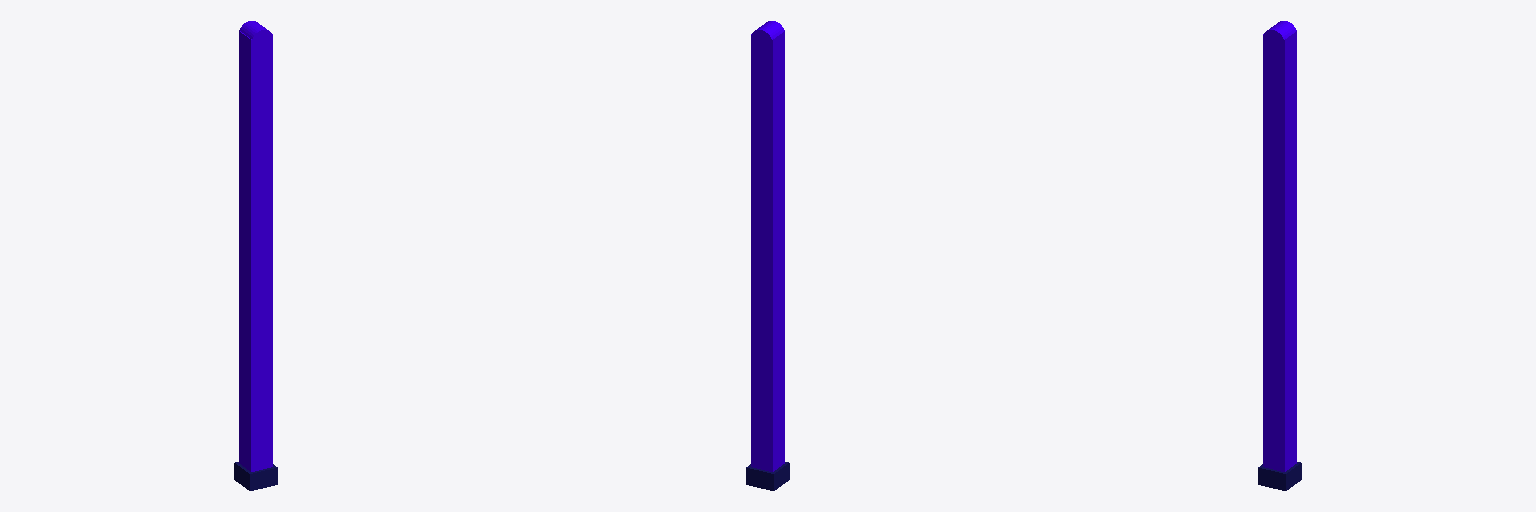
--- Facts derived from the render (not from the file) ---
Views: 3 orthographic renders of the robot side by side, from view 1: azimuth 30°, elevation 25°; view 2: azimuth 150°, elevation 25°; view 3: azimuth 330°, elevation 25°.
Model bb_arm with 106 links and 105 joints (50 revolute, 55 fixed), rooted at base_link, posed all joints at 0.
Links seen in each view (by area): view 1: base_link; view 2: base_link; view 3: base_link.
Link boxes in pixels (bbox=[...]): base_link: bbox=[234, 462, 277, 490]; base_link: bbox=[746, 462, 789, 490]; base_link: bbox=[1258, 462, 1301, 490].
Bounding box of the posed robot: 0.5 × 0.5 × 7.92 m (x, y, z).
Geometry: primitives only (box / cylinder / sphere), no mesh files.

The robot description file, URDF, robot "bb_arm":
<?xml version='1.0' encoding='utf-8'?>
<robot name="bb_arm">
  <link name="base_link">
    <visual>
      <origin xyz="0 0 0.15" rpy="0 0 0" />
      <geometry>
        <box size="0.5 0.5 0.3" />
      </geometry>
      <material name="blue">
        <color rgba="0.1 0.1 0.4 0.5" />
      </material>
    </visual>
    <collision>
      <origin xyz="0 0 0.15" rpy="0 0 0" />
      <geometry>
        <box size="0.5 0.5 0.3" />
      </geometry>
    </collision>
    <inertial>
      <mass value="1.35" />
      <inertia ixx="1" ixy="0" ixz="0" iyy="1" iyz="0" izz="1" />
      <origin xyz="0 0 0.15" rpy="0 0 0" />
    </inertial>
  </link>
  <link name="act0Seg0">
    <visual>
      <origin xyz="0 0 0.0375" rpy="0 0 0" />
      <geometry>
        <box size="0.4 0.4 0.075" />
      </geometry>
      <material name="blue">
        <color rgba="0.3 0.0 1 1.0" />
      </material>
    </visual>
    <collision>
      <origin xyz="0 0 0.0375" rpy="0 0 0" />
      <geometry>
        <box size="0.4 0.4 0.075" />
      </geometry>
    </collision>
    <inertial>
      <mass value="0.15" />
      <inertia ixx="1" ixy="0" ixz="0" iyy="1" iyz="0" izz="1" />
      <origin xyz="0 0 0.0375" rpy="0 0 0" />
    </inertial>
  </link>
  <joint name="base_link_to_act0Seg0" type="fixed">
    <parent link="base_link" />
    <child link="act0Seg0" />
    <origin xyz="0 0 0.3" rpy="0 0 0" />
    <axis xyz="1 0 0" />
  </joint>
  <link name="act0Seg1">
    <visual>
      <origin xyz="0 0 0.075" rpy="0 0 0" />
      <geometry>
        <box size="0.4 0.4 0.15" />
      </geometry>
      <material name="blue">
        <color rgba="0.3 0.0 1 1.0" />
      </material>
    </visual>
    <collision>
      <origin xyz="0 0 0.075" rpy="0 0 0" />
      <geometry>
        <box size="0.4 0.4 0.15" />
      </geometry>
    </collision>
    <inertial>
      <mass value="0.15" />
      <inertia ixx="1" ixy="0" ixz="0" iyy="1" iyz="0" izz="1" />
      <origin xyz="0 0 0.075" rpy="0 0 0" />
    </inertial>
  </link>
  <joint name="act0Seg0_to_act0Seg1_ax0" type="revolute">
    <parent link="act0Seg0" />
    <child link="act0Seg1" />
    <origin xyz="0 0 0.075" rpy="0 0 0" />
    <axis xyz="1 0 0" />
    <limit lower="-3.141592" upper="3.141592" effort="100" velocity="3" />
  </joint>
  <link name="act0Seg1helper_shape">
    <visual>
      <origin xyz="0 0 0.0" rpy="0 -1.5707963267948966 0" />
      <geometry>
        <cylinder length="0.4" radius="0.2" />
      </geometry>
      <material name="blue">
        <color rgba="0.3 0.0 1 1.0" />
      </material>
    </visual>
    <collision>
      <origin xyz="0 0 0.0" rpy="0 -1.5707963267948966 0" />
      <geometry>
        <cylinder length="0.4" radius="0.2" />
      </geometry>
    </collision>
    <inertial>
      <mass value="0.00015" />
      <inertia ixx="0.001" ixy="0.0" ixz="0.0" iyy="0.001" iyz="0.0" izz="0.001" />
      <origin xyz="0 0 0.0" rpy="0 -1.5707963267948966 0" />
    </inertial>
  </link>
  <joint name="act0Seg0_to_act0Seg1_ax0helper_shape" type="fixed">
    <parent link="act0Seg0" />
    <child link="act0Seg1helper_shape" />
    <origin xyz="0 0 0.075" rpy="0 0 0" />
    <axis xyz="1 0 0" />
  </joint>
  <link name="act0Seg2">
    <visual>
      <origin xyz="0 0 0.075" rpy="0 0 0" />
      <geometry>
        <box size="0.4 0.4 0.15" />
      </geometry>
      <material name="blue">
        <color rgba="0.3 0.0 1 1.0" />
      </material>
    </visual>
    <collision>
      <origin xyz="0 0 0.075" rpy="0 0 0" />
      <geometry>
        <box size="0.4 0.4 0.15" />
      </geometry>
    </collision>
    <inertial>
      <mass value="0.15" />
      <inertia ixx="1" ixy="0" ixz="0" iyy="1" iyz="0" izz="1" />
      <origin xyz="0 0 0.075" rpy="0 0 0" />
    </inertial>
  </link>
  <joint name="act0Seg1_to_act0Seg2_ax1" type="revolute">
    <parent link="act0Seg1" />
    <child link="act0Seg2" />
    <origin xyz="0 0 0.15" rpy="0 0 0" />
    <axis xyz="0 1 0" />
    <limit lower="-3.141592" upper="3.141592" effort="100" velocity="3" />
  </joint>
  <link name="act0Seg2helper_shape">
    <visual>
      <origin xyz="0 0 0.0" rpy="-1.5707963267948966 0 0" />
      <geometry>
        <cylinder length="0.4" radius="0.2" />
      </geometry>
      <material name="blue">
        <color rgba="0.3 0.0 1 1.0" />
      </material>
    </visual>
    <collision>
      <origin xyz="0 0 0.0" rpy="-1.5707963267948966 0 0" />
      <geometry>
        <cylinder length="0.4" radius="0.2" />
      </geometry>
    </collision>
    <inertial>
      <mass value="0.00015" />
      <inertia ixx="0.001" ixy="0.0" ixz="0.0" iyy="0.001" iyz="0.0" izz="0.001" />
      <origin xyz="0 0 0.0" rpy="-1.5707963267948966 0 0" />
    </inertial>
  </link>
  <joint name="act0Seg1_to_act0Seg2_ax1helper_shape" type="fixed">
    <parent link="act0Seg1" />
    <child link="act0Seg2helper_shape" />
    <origin xyz="0 0 0.15" rpy="0 0 0" />
    <axis xyz="1 0 0" />
  </joint>
  <link name="act0Seg3">
    <visual>
      <origin xyz="0 0 0.075" rpy="0 0 0" />
      <geometry>
        <box size="0.4 0.4 0.15" />
      </geometry>
      <material name="blue">
        <color rgba="0.3 0.0 1 1.0" />
      </material>
    </visual>
    <collision>
      <origin xyz="0 0 0.075" rpy="0 0 0" />
      <geometry>
        <box size="0.4 0.4 0.15" />
      </geometry>
    </collision>
    <inertial>
      <mass value="0.15" />
      <inertia ixx="1" ixy="0" ixz="0" iyy="1" iyz="0" izz="1" />
      <origin xyz="0 0 0.075" rpy="0 0 0" />
    </inertial>
  </link>
  <joint name="act0Seg2_to_act0Seg3_ax0" type="revolute">
    <parent link="act0Seg2" />
    <child link="act0Seg3" />
    <origin xyz="0 0 0.15" rpy="0 0 0" />
    <axis xyz="1 0 0" />
    <limit lower="-3.141592" upper="3.141592" effort="100" velocity="3" />
  </joint>
  <link name="act0Seg3helper_shape">
    <visual>
      <origin xyz="0 0 0.0" rpy="0 -1.5707963267948966 0" />
      <geometry>
        <cylinder length="0.4" radius="0.2" />
      </geometry>
      <material name="blue">
        <color rgba="0.3 0.0 1 1.0" />
      </material>
    </visual>
    <collision>
      <origin xyz="0 0 0.0" rpy="0 -1.5707963267948966 0" />
      <geometry>
        <cylinder length="0.4" radius="0.2" />
      </geometry>
    </collision>
    <inertial>
      <mass value="0.00015" />
      <inertia ixx="0.001" ixy="0.0" ixz="0.0" iyy="0.001" iyz="0.0" izz="0.001" />
      <origin xyz="0 0 0.0" rpy="0 -1.5707963267948966 0" />
    </inertial>
  </link>
  <joint name="act0Seg2_to_act0Seg3_ax0helper_shape" type="fixed">
    <parent link="act0Seg2" />
    <child link="act0Seg3helper_shape" />
    <origin xyz="0 0 0.15" rpy="0 0 0" />
    <axis xyz="1 0 0" />
  </joint>
  <link name="act0Seg4">
    <visual>
      <origin xyz="0 0 0.075" rpy="0 0 0" />
      <geometry>
        <box size="0.4 0.4 0.15" />
      </geometry>
      <material name="blue">
        <color rgba="0.3 0.0 1 1.0" />
      </material>
    </visual>
    <collision>
      <origin xyz="0 0 0.075" rpy="0 0 0" />
      <geometry>
        <box size="0.4 0.4 0.15" />
      </geometry>
    </collision>
    <inertial>
      <mass value="0.15" />
      <inertia ixx="1" ixy="0" ixz="0" iyy="1" iyz="0" izz="1" />
      <origin xyz="0 0 0.075" rpy="0 0 0" />
    </inertial>
  </link>
  <joint name="act0Seg3_to_act0Seg4_ax1" type="revolute">
    <parent link="act0Seg3" />
    <child link="act0Seg4" />
    <origin xyz="0 0 0.15" rpy="0 0 0" />
    <axis xyz="0 1 0" />
    <limit lower="-3.141592" upper="3.141592" effort="100" velocity="3" />
  </joint>
  <link name="act0Seg4helper_shape">
    <visual>
      <origin xyz="0 0 0.0" rpy="-1.5707963267948966 0 0" />
      <geometry>
        <cylinder length="0.4" radius="0.2" />
      </geometry>
      <material name="blue">
        <color rgba="0.3 0.0 1 1.0" />
      </material>
    </visual>
    <collision>
      <origin xyz="0 0 0.0" rpy="-1.5707963267948966 0 0" />
      <geometry>
        <cylinder length="0.4" radius="0.2" />
      </geometry>
    </collision>
    <inertial>
      <mass value="0.00015" />
      <inertia ixx="0.001" ixy="0.0" ixz="0.0" iyy="0.001" iyz="0.0" izz="0.001" />
      <origin xyz="0 0 0.0" rpy="-1.5707963267948966 0 0" />
    </inertial>
  </link>
  <joint name="act0Seg3_to_act0Seg4_ax1helper_shape" type="fixed">
    <parent link="act0Seg3" />
    <child link="act0Seg4helper_shape" />
    <origin xyz="0 0 0.15" rpy="0 0 0" />
    <axis xyz="1 0 0" />
  </joint>
  <link name="act0Seg5">
    <visual>
      <origin xyz="0 0 0.075" rpy="0 0 0" />
      <geometry>
        <box size="0.4 0.4 0.15" />
      </geometry>
      <material name="blue">
        <color rgba="0.3 0.0 1 1.0" />
      </material>
    </visual>
    <collision>
      <origin xyz="0 0 0.075" rpy="0 0 0" />
      <geometry>
        <box size="0.4 0.4 0.15" />
      </geometry>
    </collision>
    <inertial>
      <mass value="0.15" />
      <inertia ixx="1" ixy="0" ixz="0" iyy="1" iyz="0" izz="1" />
      <origin xyz="0 0 0.075" rpy="0 0 0" />
    </inertial>
  </link>
  <joint name="act0Seg4_to_act0Seg5_ax0" type="revolute">
    <parent link="act0Seg4" />
    <child link="act0Seg5" />
    <origin xyz="0 0 0.15" rpy="0 0 0" />
    <axis xyz="1 0 0" />
    <limit lower="-3.141592" upper="3.141592" effort="100" velocity="3" />
  </joint>
  <link name="act0Seg5helper_shape">
    <visual>
      <origin xyz="0 0 0.0" rpy="0 -1.5707963267948966 0" />
      <geometry>
        <cylinder length="0.4" radius="0.2" />
      </geometry>
      <material name="blue">
        <color rgba="0.3 0.0 1 1.0" />
      </material>
    </visual>
    <collision>
      <origin xyz="0 0 0.0" rpy="0 -1.5707963267948966 0" />
      <geometry>
        <cylinder length="0.4" radius="0.2" />
      </geometry>
    </collision>
    <inertial>
      <mass value="0.00015" />
      <inertia ixx="0.001" ixy="0.0" ixz="0.0" iyy="0.001" iyz="0.0" izz="0.001" />
      <origin xyz="0 0 0.0" rpy="0 -1.5707963267948966 0" />
    </inertial>
  </link>
  <joint name="act0Seg4_to_act0Seg5_ax0helper_shape" type="fixed">
    <parent link="act0Seg4" />
    <child link="act0Seg5helper_shape" />
    <origin xyz="0 0 0.15" rpy="0 0 0" />
    <axis xyz="1 0 0" />
  </joint>
  <link name="act0Seg6">
    <visual>
      <origin xyz="0 0 0.075" rpy="0 0 0" />
      <geometry>
        <box size="0.4 0.4 0.15" />
      </geometry>
      <material name="blue">
        <color rgba="0.3 0.0 1 1.0" />
      </material>
    </visual>
    <collision>
      <origin xyz="0 0 0.075" rpy="0 0 0" />
      <geometry>
        <box size="0.4 0.4 0.15" />
      </geometry>
    </collision>
    <inertial>
      <mass value="0.15" />
      <inertia ixx="1" ixy="0" ixz="0" iyy="1" iyz="0" izz="1" />
      <origin xyz="0 0 0.075" rpy="0 0 0" />
    </inertial>
  </link>
  <joint name="act0Seg5_to_act0Seg6_ax1" type="revolute">
    <parent link="act0Seg5" />
    <child link="act0Seg6" />
    <origin xyz="0 0 0.15" rpy="0 0 0" />
    <axis xyz="0 1 0" />
    <limit lower="-3.141592" upper="3.141592" effort="100" velocity="3" />
  </joint>
  <link name="act0Seg6helper_shape">
    <visual>
      <origin xyz="0 0 0.0" rpy="-1.5707963267948966 0 0" />
      <geometry>
        <cylinder length="0.4" radius="0.2" />
      </geometry>
      <material name="blue">
        <color rgba="0.3 0.0 1 1.0" />
      </material>
    </visual>
    <collision>
      <origin xyz="0 0 0.0" rpy="-1.5707963267948966 0 0" />
      <geometry>
        <cylinder length="0.4" radius="0.2" />
      </geometry>
    </collision>
    <inertial>
      <mass value="0.00015" />
      <inertia ixx="0.001" ixy="0.0" ixz="0.0" iyy="0.001" iyz="0.0" izz="0.001" />
      <origin xyz="0 0 0.0" rpy="-1.5707963267948966 0 0" />
    </inertial>
  </link>
  <joint name="act0Seg5_to_act0Seg6_ax1helper_shape" type="fixed">
    <parent link="act0Seg5" />
    <child link="act0Seg6helper_shape" />
    <origin xyz="0 0 0.15" rpy="0 0 0" />
    <axis xyz="1 0 0" />
  </joint>
  <link name="act0Seg7">
    <visual>
      <origin xyz="0 0 0.075" rpy="0 0 0" />
      <geometry>
        <box size="0.4 0.4 0.15" />
      </geometry>
      <material name="blue">
        <color rgba="0.3 0.0 1 1.0" />
      </material>
    </visual>
    <collision>
      <origin xyz="0 0 0.075" rpy="0 0 0" />
      <geometry>
        <box size="0.4 0.4 0.15" />
      </geometry>
    </collision>
    <inertial>
      <mass value="0.15" />
      <inertia ixx="1" ixy="0" ixz="0" iyy="1" iyz="0" izz="1" />
      <origin xyz="0 0 0.075" rpy="0 0 0" />
    </inertial>
  </link>
  <joint name="act0Seg6_to_act0Seg7_ax0" type="revolute">
    <parent link="act0Seg6" />
    <child link="act0Seg7" />
    <origin xyz="0 0 0.15" rpy="0 0 0" />
    <axis xyz="1 0 0" />
    <limit lower="-3.141592" upper="3.141592" effort="100" velocity="3" />
  </joint>
  <link name="act0Seg7helper_shape">
    <visual>
      <origin xyz="0 0 0.0" rpy="0 -1.5707963267948966 0" />
      <geometry>
        <cylinder length="0.4" radius="0.2" />
      </geometry>
      <material name="blue">
        <color rgba="0.3 0.0 1 1.0" />
      </material>
    </visual>
    <collision>
      <origin xyz="0 0 0.0" rpy="0 -1.5707963267948966 0" />
      <geometry>
        <cylinder length="0.4" radius="0.2" />
      </geometry>
    </collision>
    <inertial>
      <mass value="0.00015" />
      <inertia ixx="0.001" ixy="0.0" ixz="0.0" iyy="0.001" iyz="0.0" izz="0.001" />
      <origin xyz="0 0 0.0" rpy="0 -1.5707963267948966 0" />
    </inertial>
  </link>
  <joint name="act0Seg6_to_act0Seg7_ax0helper_shape" type="fixed">
    <parent link="act0Seg6" />
    <child link="act0Seg7helper_shape" />
    <origin xyz="0 0 0.15" rpy="0 0 0" />
    <axis xyz="1 0 0" />
  </joint>
  <link name="act0Seg8">
    <visual>
      <origin xyz="0 0 0.075" rpy="0 0 0" />
      <geometry>
        <box size="0.4 0.4 0.15" />
      </geometry>
      <material name="blue">
        <color rgba="0.3 0.0 1 1.0" />
      </material>
    </visual>
    <collision>
      <origin xyz="0 0 0.075" rpy="0 0 0" />
      <geometry>
        <box size="0.4 0.4 0.15" />
      </geometry>
    </collision>
    <inertial>
      <mass value="0.15" />
      <inertia ixx="1" ixy="0" ixz="0" iyy="1" iyz="0" izz="1" />
      <origin xyz="0 0 0.075" rpy="0 0 0" />
    </inertial>
  </link>
  <joint name="act0Seg7_to_act0Seg8_ax1" type="revolute">
    <parent link="act0Seg7" />
    <child link="act0Seg8" />
    <origin xyz="0 0 0.15" rpy="0 0 0" />
    <axis xyz="0 1 0" />
    <limit lower="-3.141592" upper="3.141592" effort="100" velocity="3" />
  </joint>
  <link name="act0Seg8helper_shape">
    <visual>
      <origin xyz="0 0 0.0" rpy="-1.5707963267948966 0 0" />
      <geometry>
        <cylinder length="0.4" radius="0.2" />
      </geometry>
      <material name="blue">
        <color rgba="0.3 0.0 1 1.0" />
      </material>
    </visual>
    <collision>
      <origin xyz="0 0 0.0" rpy="-1.5707963267948966 0 0" />
      <geometry>
        <cylinder length="0.4" radius="0.2" />
      </geometry>
    </collision>
    <inertial>
      <mass value="0.00015" />
      <inertia ixx="0.001" ixy="0.0" ixz="0.0" iyy="0.001" iyz="0.0" izz="0.001" />
      <origin xyz="0 0 0.0" rpy="-1.5707963267948966 0 0" />
    </inertial>
  </link>
  <joint name="act0Seg7_to_act0Seg8_ax1helper_shape" type="fixed">
    <parent link="act0Seg7" />
    <child link="act0Seg8helper_shape" />
    <origin xyz="0 0 0.15" rpy="0 0 0" />
    <axis xyz="1 0 0" />
  </joint>
  <link name="act0Seg9">
    <visual>
      <origin xyz="0 0 0.075" rpy="0 0 0" />
      <geometry>
        <box size="0.4 0.4 0.15" />
      </geometry>
      <material name="blue">
        <color rgba="0.3 0.0 1 1.0" />
      </material>
    </visual>
    <collision>
      <origin xyz="0 0 0.075" rpy="0 0 0" />
      <geometry>
        <box size="0.4 0.4 0.15" />
      </geometry>
    </collision>
    <inertial>
      <mass value="0.15" />
      <inertia ixx="1" ixy="0" ixz="0" iyy="1" iyz="0" izz="1" />
      <origin xyz="0 0 0.075" rpy="0 0 0" />
    </inertial>
  </link>
  <joint name="act0Seg8_to_act0Seg9_ax0" type="revolute">
    <parent link="act0Seg8" />
    <child link="act0Seg9" />
    <origin xyz="0 0 0.15" rpy="0 0 0" />
    <axis xyz="1 0 0" />
    <limit lower="-3.141592" upper="3.141592" effort="100" velocity="3" />
  </joint>
  <link name="act0Seg9helper_shape">
    <visual>
      <origin xyz="0 0 0.0" rpy="0 -1.5707963267948966 0" />
      <geometry>
        <cylinder length="0.4" radius="0.2" />
      </geometry>
      <material name="blue">
        <color rgba="0.3 0.0 1 1.0" />
      </material>
    </visual>
    <collision>
      <origin xyz="0 0 0.0" rpy="0 -1.5707963267948966 0" />
      <geometry>
        <cylinder length="0.4" radius="0.2" />
      </geometry>
    </collision>
    <inertial>
      <mass value="0.00015" />
      <inertia ixx="0.001" ixy="0.0" ixz="0.0" iyy="0.001" iyz="0.0" izz="0.001" />
      <origin xyz="0 0 0.0" rpy="0 -1.5707963267948966 0" />
    </inertial>
  </link>
  <joint name="act0Seg8_to_act0Seg9_ax0helper_shape" type="fixed">
    <parent link="act0Seg8" />
    <child link="act0Seg9helper_shape" />
    <origin xyz="0 0 0.15" rpy="0 0 0" />
    <axis xyz="1 0 0" />
  </joint>
  <link name="act0Seg10">
    <visual>
      <origin xyz="0 0 0.0375" rpy="0 0 0" />
      <geometry>
        <box size="0.4 0.4 0.075" />
      </geometry>
      <material name="blue">
        <color rgba="0.3 0.0 1 1.0" />
      </material>
    </visual>
    <collision>
      <origin xyz="0 0 0.0375" rpy="0 0 0" />
      <geometry>
        <box size="0.4 0.4 0.075" />
      </geometry>
    </collision>
    <inertial>
      <mass value="0.15" />
      <inertia ixx="1" ixy="0" ixz="0" iyy="1" iyz="0" izz="1" />
      <origin xyz="0 0 0.0375" rpy="0 0 0" />
    </inertial>
  </link>
  <joint name="act0Seg9_to_act0Seg10_ax1" type="revolute">
    <parent link="act0Seg9" />
    <child link="act0Seg10" />
    <origin xyz="0 0 0.15" rpy="0 0 0" />
    <axis xyz="0 1 0" />
    <limit lower="-3.141592" upper="3.141592" effort="100" velocity="3" />
  </joint>
  <link name="act0Seg10helper_shape">
    <visual>
      <origin xyz="0 0 0.0" rpy="-1.5707963267948966 0 0" />
      <geometry>
        <cylinder length="0.4" radius="0.2" />
      </geometry>
      <material name="blue">
        <color rgba="0.3 0.0 1 1.0" />
      </material>
    </visual>
    <collision>
      <origin xyz="0 0 0.0" rpy="-1.5707963267948966 0 0" />
      <geometry>
        <cylinder length="0.4" radius="0.2" />
      </geometry>
    </collision>
    <inertial>
      <mass value="0.00015" />
      <inertia ixx="0.001" ixy="0.0" ixz="0.0" iyy="0.001" iyz="0.0" izz="0.001" />
      <origin xyz="0 0 0.0" rpy="-1.5707963267948966 0 0" />
    </inertial>
  </link>
  <joint name="act0Seg9_to_act0Seg10_ax1helper_shape" type="fixed">
    <parent link="act0Seg9" />
    <child link="act0Seg10helper_shape" />
    <origin xyz="0 0 0.15" rpy="0 0 0" />
    <axis xyz="1 0 0" />
  </joint>
  <link name="act1Seg0">
    <visual>
      <origin xyz="0 0 0.0375" rpy="0 0 0" />
      <geometry>
        <box size="0.4 0.4 0.075" />
      </geometry>
      <material name="blue">
        <color rgba="0.3 0.0 1 1.0" />
      </material>
    </visual>
    <collision>
      <origin xyz="0 0 0.0375" rpy="0 0 0" />
      <geometry>
        <box size="0.4 0.4 0.075" />
      </geometry>
    </collision>
    <inertial>
      <mass value="0.15" />
      <inertia ixx="1" ixy="0" ixz="0" iyy="1" iyz="0" izz="1" />
      <origin xyz="0 0 0.0375" rpy="0 0 0" />
    </inertial>
  </link>
  <joint name="act0Seg10_to_act1Seg0_ax1" type="fixed">
    <parent link="act0Seg10" />
    <child link="act1Seg0" />
    <origin xyz="0 0 0.075" rpy="0 0 0" />
    <axis xyz="0 1 0" />
    <limit lower="-3.141592" upper="3.141592" effort="100" velocity="3" />
  </joint>
  <link name="act1Seg1">
    <visual>
      <origin xyz="0 0 0.075" rpy="0 0 0" />
      <geometry>
        <box size="0.4 0.4 0.15" />
      </geometry>
      <material name="blue">
        <color rgba="0.3 0.0 1 1.0" />
      </material>
    </visual>
    <collision>
      <origin xyz="0 0 0.075" rpy="0 0 0" />
      <geometry>
        <box size="0.4 0.4 0.15" />
      </geometry>
    </collision>
    <inertial>
      <mass value="0.15" />
      <inertia ixx="1" ixy="0" ixz="0" iyy="1" iyz="0" izz="1" />
      <origin xyz="0 0 0.075" rpy="0 0 0" />
    </inertial>
  </link>
  <joint name="act1Seg0_to_act1Seg1_ax0" type="revolute">
    <parent link="act1Seg0" />
    <child link="act1Seg1" />
    <origin xyz="0 0 0.075" rpy="0 0 0" />
    <axis xyz="1 0 0" />
    <limit lower="-3.141592" upper="3.141592" effort="100" velocity="3" />
  </joint>
  <link name="act1Seg1helper_shape">
    <visual>
      <origin xyz="0 0 0.0" rpy="0 -1.5707963267948966 0" />
      <geometry>
        <cylinder length="0.4" radius="0.2" />
      </geometry>
      <material name="blue">
        <color rgba="0.3 0.0 1 1.0" />
      </material>
    </visual>
    <collision>
      <origin xyz="0 0 0.0" rpy="0 -1.5707963267948966 0" />
      <geometry>
        <cylinder length="0.4" radius="0.2" />
      </geometry>
    </collision>
    <inertial>
      <mass value="0.00015" />
      <inertia ixx="0.001" ixy="0.0" ixz="0.0" iyy="0.001" iyz="0.0" izz="0.001" />
      <origin xyz="0 0 0.0" rpy="0 -1.5707963267948966 0" />
    </inertial>
  </link>
  <joint name="act1Seg0_to_act1Seg1_ax0helper_shape" type="fixed">
    <parent link="act1Seg0" />
    <child link="act1Seg1helper_shape" />
    <origin xyz="0 0 0.075" rpy="0 0 0" />
    <axis xyz="1 0 0" />
  </joint>
  <link name="act1Seg2">
    <visual>
      <origin xyz="0 0 0.075" rpy="0 0 0" />
      <geometry>
        <box size="0.4 0.4 0.15" />
      </geometry>
      <material name="blue">
        <color rgba="0.3 0.0 1 1.0" />
      </material>
    </visual>
    <collision>
      <origin xyz="0 0 0.075" rpy="0 0 0" />
      <geometry>
        <box size="0.4 0.4 0.15" />
      </geometry>
    </collision>
    <inertial>
      <mass value="0.15" />
      <inertia ixx="1" ixy="0" ixz="0" iyy="1" iyz="0" izz="1" />
      <origin xyz="0 0 0.075" rpy="0 0 0" />
    </inertial>
  </link>
  <joint name="act1Seg1_to_act1Seg2_ax1" type="revolute">
    <parent link="act1Seg1" />
    <child link="act1Seg2" />
    <origin xyz="0 0 0.15" rpy="0 0 0" />
    <axis xyz="0 1 0" />
    <limit lower="-3.141592" upper="3.141592" effort="100" velocity="3" />
  </joint>
  <link name="act1Seg2helper_shape">
    <visual>
      <origin xyz="0 0 0.0" rpy="-1.5707963267948966 0 0" />
      <geometry>
        <cylinder length="0.4" radius="0.2" />
      </geometry>
      <material name="blue">
        <color rgba="0.3 0.0 1 1.0" />
      </material>
    </visual>
    <collision>
      <origin xyz="0 0 0.0" rpy="-1.5707963267948966 0 0" />
      <geometry>
        <cylinder length="0.4" radius="0.2" />
      </geometry>
    </collision>
    <inertial>
      <mass value="0.00015" />
      <inertia ixx="0.001" ixy="0.0" ixz="0.0" iyy="0.001" iyz="0.0" izz="0.001" />
      <origin xyz="0 0 0.0" rpy="-1.5707963267948966 0 0" />
    </inertial>
  </link>
  <joint name="act1Seg1_to_act1Seg2_ax1helper_shape" type="fixed">
    <parent link="act1Seg1" />
    <child link="act1Seg2helper_shape" />
    <origin xyz="0 0 0.15" rpy="0 0 0" />
    <axis xyz="1 0 0" />
  </joint>
  <link name="act1Seg3">
    <visual>
      <origin xyz="0 0 0.075" rpy="0 0 0" />
      <geometry>
        <box size="0.4 0.4 0.15" />
      </geometry>
      <material name="blue">
        <color rgba="0.3 0.0 1 1.0" />
      </material>
    </visual>
    <collision>
      <origin xyz="0 0 0.075" rpy="0 0 0" />
      <geometry>
        <box size="0.4 0.4 0.15" />
      </geometry>
    </collision>
    <inertial>
      <mass value="0.15" />
      <inertia ixx="1" ixy="0" ixz="0" iyy="1" iyz="0" izz="1" />
      <origin xyz="0 0 0.075" rpy="0 0 0" />
    </inertial>
  </link>
  <joint name="act1Seg2_to_act1Seg3_ax0" type="revolute">
    <parent link="act1Seg2" />
    <child link="act1Seg3" />
    <origin xyz="0 0 0.15" rpy="0 0 0" />
    <axis xyz="1 0 0" />
    <limit lower="-3.141592" upper="3.141592" effort="100" velocity="3" />
  </joint>
  <link name="act1Seg3helper_shape">
    <visual>
      <origin xyz="0 0 0.0" rpy="0 -1.5707963267948966 0" />
      <geometry>
        <cylinder length="0.4" radius="0.2" />
      </geometry>
      <material name="blue">
        <color rgba="0.3 0.0 1 1.0" />
      </material>
    </visual>
    <collision>
      <origin xyz="0 0 0.0" rpy="0 -1.5707963267948966 0" />
      <geometry>
        <cylinder length="0.4" radius="0.2" />
      </geometry>
    </collision>
    <inertial>
      <mass value="0.00015" />
      <inertia ixx="0.001" ixy="0.0" ixz="0.0" iyy="0.001" iyz="0.0" izz="0.001" />
      <origin xyz="0 0 0.0" rpy="0 -1.5707963267948966 0" />
    </inertial>
  </link>
  <joint name="act1Seg2_to_act1Seg3_ax0helper_shape" type="fixed">
    <parent link="act1Seg2" />
    <child link="act1Seg3helper_shape" />
    <origin xyz="0 0 0.15" rpy="0 0 0" />
    <axis xyz="1 0 0" />
  </joint>
  <link name="act1Seg4">
    <visual>
      <origin xyz="0 0 0.075" rpy="0 0 0" />
      <geometry>
        <box size="0.4 0.4 0.15" />
      </geometry>
      <material name="blue">
        <color rgba="0.3 0.0 1 1.0" />
      </material>
    </visual>
    <collision>
      <origin xyz="0 0 0.075" rpy="0 0 0" />
      <geometry>
        <box size="0.4 0.4 0.15" />
      </geometry>
    </collision>
    <inertial>
      <mass value="0.15" />
      <inertia ixx="1" ixy="0" ixz="0" iyy="1" iyz="0" izz="1" />
      <origin xyz="0 0 0.075" rpy="0 0 0" />
    </inertial>
  </link>
  <joint name="act1Seg3_to_act1Seg4_ax1" type="revolute">
    <parent link="act1Seg3" />
    <child link="act1Seg4" />
    <origin xyz="0 0 0.15" rpy="0 0 0" />
    <axis xyz="0 1 0" />
    <limit lower="-3.141592" upper="3.141592" effort="100" velocity="3" />
  </joint>
  <link name="act1Seg4helper_shape">
    <visual>
      <origin xyz="0 0 0.0" rpy="-1.5707963267948966 0 0" />
      <geometry>
        <cylinder length="0.4" radius="0.2" />
      </geometry>
      <material name="blue">
        <color rgba="0.3 0.0 1 1.0" />
      </material>
    </visual>
    <collision>
      <origin xyz="0 0 0.0" rpy="-1.5707963267948966 0 0" />
      <geometry>
        <cylinder length="0.4" radius="0.2" />
      </geometry>
    </collision>
    <inertial>
      <mass value="0.00015" />
      <inertia ixx="0.001" ixy="0.0" ixz="0.0" iyy="0.001" iyz="0.0" izz="0.001" />
      <origin xyz="0 0 0.0" rpy="-1.5707963267948966 0 0" />
    </inertial>
  </link>
  <joint name="act1Seg3_to_act1Seg4_ax1helper_shape" type="fixed">
    <parent link="act1Seg3" />
    <child link="act1Seg4helper_shape" />
    <origin xyz="0 0 0.15" rpy="0 0 0" />
    <axis xyz="1 0 0" />
  </joint>
  <link name="act1Seg5">
    <visual>
      <origin xyz="0 0 0.075" rpy="0 0 0" />
      <geometry>
        <box size="0.4 0.4 0.15" />
      </geometry>
      <material name="blue">
        <color rgba="0.3 0.0 1 1.0" />
      </material>
    </visual>
    <collision>
      <origin xyz="0 0 0.075" rpy="0 0 0" />
      <geometry>
        <box size="0.4 0.4 0.15" />
      </geometry>
    </collision>
    <inertial>
      <mass value="0.15" />
      <inertia ixx="1" ixy="0" ixz="0" iyy="1" iyz="0" izz="1" />
      <origin xyz="0 0 0.075" rpy="0 0 0" />
    </inertial>
  </link>
  <joint name="act1Seg4_to_act1Seg5_ax0" type="revolute">
    <parent link="act1Seg4" />
    <child link="act1Seg5" />
    <origin xyz="0 0 0.15" rpy="0 0 0" />
    <axis xyz="1 0 0" />
    <limit lower="-3.141592" upper="3.141592" effort="100" velocity="3" />
  </joint>
  <link name="act1Seg5helper_shape">
    <visual>
      <origin xyz="0 0 0.0" rpy="0 -1.5707963267948966 0" />
      <geometry>
        <cylinder length="0.4" radius="0.2" />
      </geometry>
      <material name="blue">
        <color rgba="0.3 0.0 1 1.0" />
      </material>
    </visual>
    <collision>
      <origin xyz="0 0 0.0" rpy="0 -1.5707963267948966 0" />
      <geometry>
        <cylinder length="0.4" radius="0.2" />
      </geometry>
    </collision>
    <inertial>
      <mass value="0.00015" />
      <inertia ixx="0.001" ixy="0.0" ixz="0.0" iyy="0.001" iyz="0.0" izz="0.001" />
      <origin xyz="0 0 0.0" rpy="0 -1.5707963267948966 0" />
    </inertial>
  </link>
  <joint name="act1Seg4_to_act1Seg5_ax0helper_shape" type="fixed">
    <parent link="act1Seg4" />
    <child link="act1Seg5helper_shape" />
    <origin xyz="0 0 0.15" rpy="0 0 0" />
    <axis xyz="1 0 0" />
  </joint>
  <link name="act1Seg6">
    <visual>
      <origin xyz="0 0 0.075" rpy="0 0 0" />
      <geometry>
        <box size="0.4 0.4 0.15" />
      </geometry>
      <material name="blue">
        <color rgba="0.3 0.0 1 1.0" />
      </material>
    </visual>
    <collision>
      <origin xyz="0 0 0.075" rpy="0 0 0" />
      <geometry>
        <box size="0.4 0.4 0.15" />
      </geometry>
    </collision>
    <inertial>
      <mass value="0.15" />
      <inertia ixx="1" ixy="0" ixz="0" iyy="1" iyz="0" izz="1" />
      <origin xyz="0 0 0.075" rpy="0 0 0" />
    </inertial>
  </link>
  <joint name="act1Seg5_to_act1Seg6_ax1" type="revolute">
    <parent link="act1Seg5" />
    <child link="act1Seg6" />
    <origin xyz="0 0 0.15" rpy="0 0 0" />
    <axis xyz="0 1 0" />
    <limit lower="-3.141592" upper="3.141592" effort="100" velocity="3" />
  </joint>
  <link name="act1Seg6helper_shape">
    <visual>
      <origin xyz="0 0 0.0" rpy="-1.5707963267948966 0 0" />
      <geometry>
        <cylinder length="0.4" radius="0.2" />
      </geometry>
      <material name="blue">
        <color rgba="0.3 0.0 1 1.0" />
      </material>
    </visual>
    <collision>
      <origin xyz="0 0 0.0" rpy="-1.5707963267948966 0 0" />
      <geometry>
        <cylinder length="0.4" radius="0.2" />
      </geometry>
    </collision>
    <inertial>
      <mass value="0.00015" />
      <inertia ixx="0.001" ixy="0.0" ixz="0.0" iyy="0.001" iyz="0.0" izz="0.001" />
      <origin xyz="0 0 0.0" rpy="-1.5707963267948966 0 0" />
    </inertial>
  </link>
  <joint name="act1Seg5_to_act1Seg6_ax1helper_shape" type="fixed">
    <parent link="act1Seg5" />
    <child link="act1Seg6helper_shape" />
    <origin xyz="0 0 0.15" rpy="0 0 0" />
    <axis xyz="1 0 0" />
  </joint>
  <link name="act1Seg7">
    <visual>
      <origin xyz="0 0 0.075" rpy="0 0 0" />
      <geometry>
        <box size="0.4 0.4 0.15" />
      </geometry>
      <material name="blue">
        <color rgba="0.3 0.0 1 1.0" />
      </material>
    </visual>
    <collision>
      <origin xyz="0 0 0.075" rpy="0 0 0" />
      <geometry>
        <box size="0.4 0.4 0.15" />
      </geometry>
    </collision>
    <inertial>
      <mass value="0.15" />
      <inertia ixx="1" ixy="0" ixz="0" iyy="1" iyz="0" izz="1" />
      <origin xyz="0 0 0.075" rpy="0 0 0" />
    </inertial>
  </link>
  <joint name="act1Seg6_to_act1Seg7_ax0" type="revolute">
    <parent link="act1Seg6" />
    <child link="act1Seg7" />
    <origin xyz="0 0 0.15" rpy="0 0 0" />
    <axis xyz="1 0 0" />
    <limit lower="-3.141592" upper="3.141592" effort="100" velocity="3" />
  </joint>
  <link name="act1Seg7helper_shape">
    <visual>
      <origin xyz="0 0 0.0" rpy="0 -1.5707963267948966 0" />
      <geometry>
        <cylinder length="0.4" radius="0.2" />
      </geometry>
      <material name="blue">
        <color rgba="0.3 0.0 1 1.0" />
      </material>
    </visual>
    <collision>
      <origin xyz="0 0 0.0" rpy="0 -1.5707963267948966 0" />
      <geometry>
        <cylinder length="0.4" radius="0.2" />
      </geometry>
    </collision>
    <inertial>
      <mass value="0.00015" />
      <inertia ixx="0.001" ixy="0.0" ixz="0.0" iyy="0.001" iyz="0.0" izz="0.001" />
      <origin xyz="0 0 0.0" rpy="0 -1.5707963267948966 0" />
    </inertial>
  </link>
  <joint name="act1Seg6_to_act1Seg7_ax0helper_shape" type="fixed">
    <parent link="act1Seg6" />
    <child link="act1Seg7helper_shape" />
    <origin xyz="0 0 0.15" rpy="0 0 0" />
    <axis xyz="1 0 0" />
  </joint>
  <link name="act1Seg8">
    <visual>
      <origin xyz="0 0 0.075" rpy="0 0 0" />
      <geometry>
        <box size="0.4 0.4 0.15" />
      </geometry>
      <material name="blue">
        <color rgba="0.3 0.0 1 1.0" />
      </material>
    </visual>
    <collision>
      <origin xyz="0 0 0.075" rpy="0 0 0" />
      <geometry>
        <box size="0.4 0.4 0.15" />
      </geometry>
    </collision>
    <inertial>
      <mass value="0.15" />
      <inertia ixx="1" ixy="0" ixz="0" iyy="1" iyz="0" izz="1" />
      <origin xyz="0 0 0.075" rpy="0 0 0" />
    </inertial>
  </link>
  <joint name="act1Seg7_to_act1Seg8_ax1" type="revolute">
    <parent link="act1Seg7" />
    <child link="act1Seg8" />
    <origin xyz="0 0 0.15" rpy="0 0 0" />
    <axis xyz="0 1 0" />
    <limit lower="-3.141592" upper="3.141592" effort="100" velocity="3" />
  </joint>
  <link name="act1Seg8helper_shape">
    <visual>
      <origin xyz="0 0 0.0" rpy="-1.5707963267948966 0 0" />
      <geometry>
        <cylinder length="0.4" radius="0.2" />
      </geometry>
      <material name="blue">
        <color rgba="0.3 0.0 1 1.0" />
      </material>
    </visual>
    <collision>
      <origin xyz="0 0 0.0" rpy="-1.5707963267948966 0 0" />
      <geometry>
        <cylinder length="0.4" radius="0.2" />
      </geometry>
    </collision>
    <inertial>
      <mass value="0.00015" />
      <inertia ixx="0.001" ixy="0.0" ixz="0.0" iyy="0.001" iyz="0.0" izz="0.001" />
      <origin xyz="0 0 0.0" rpy="-1.5707963267948966 0 0" />
    </inertial>
  </link>
  <joint name="act1Seg7_to_act1Seg8_ax1helper_shape" type="fixed">
    <parent link="act1Seg7" />
    <child link="act1Seg8helper_shape" />
    <origin xyz="0 0 0.15" rpy="0 0 0" />
    <axis xyz="1 0 0" />
  </joint>
  <link name="act1Seg9">
    <visual>
      <origin xyz="0 0 0.075" rpy="0 0 0" />
      <geometry>
        <box size="0.4 0.4 0.15" />
      </geometry>
      <material name="blue">
        <color rgba="0.3 0.0 1 1.0" />
      </material>
    </visual>
    <collision>
      <origin xyz="0 0 0.075" rpy="0 0 0" />
      <geometry>
        <box size="0.4 0.4 0.15" />
      </geometry>
    </collision>
    <inertial>
      <mass value="0.15" />
      <inertia ixx="1" ixy="0" ixz="0" iyy="1" iyz="0" izz="1" />
      <origin xyz="0 0 0.075" rpy="0 0 0" />
    </inertial>
  </link>
  <joint name="act1Seg8_to_act1Seg9_ax0" type="revolute">
    <parent link="act1Seg8" />
    <child link="act1Seg9" />
    <origin xyz="0 0 0.15" rpy="0 0 0" />
    <axis xyz="1 0 0" />
    <limit lower="-3.141592" upper="3.141592" effort="100" velocity="3" />
  </joint>
  <link name="act1Seg9helper_shape">
    <visual>
      <origin xyz="0 0 0.0" rpy="0 -1.5707963267948966 0" />
      <geometry>
        <cylinder length="0.4" radius="0.2" />
      </geometry>
      <material name="blue">
        <color rgba="0.3 0.0 1 1.0" />
      </material>
    </visual>
    <collision>
      <origin xyz="0 0 0.0" rpy="0 -1.5707963267948966 0" />
      <geometry>
        <cylinder length="0.4" radius="0.2" />
      </geometry>
    </collision>
    <inertial>
      <mass value="0.00015" />
      <inertia ixx="0.001" ixy="0.0" ixz="0.0" iyy="0.001" iyz="0.0" izz="0.001" />
      <origin xyz="0 0 0.0" rpy="0 -1.5707963267948966 0" />
    </inertial>
  </link>
  <joint name="act1Seg8_to_act1Seg9_ax0helper_shape" type="fixed">
    <parent link="act1Seg8" />
    <child link="act1Seg9helper_shape" />
    <origin xyz="0 0 0.15" rpy="0 0 0" />
    <axis xyz="1 0 0" />
  </joint>
  <link name="act1Seg10">
    <visual>
      <origin xyz="0 0 0.0375" rpy="0 0 0" />
      <geometry>
        <box size="0.4 0.4 0.075" />
      </geometry>
      <material name="blue">
        <color rgba="0.3 0.0 1 1.0" />
      </material>
    </visual>
    <collision>
      <origin xyz="0 0 0.0375" rpy="0 0 0" />
      <geometry>
        <box size="0.4 0.4 0.075" />
      </geometry>
    </collision>
    <inertial>
      <mass value="0.15" />
      <inertia ixx="1" ixy="0" ixz="0" iyy="1" iyz="0" izz="1" />
      <origin xyz="0 0 0.0375" rpy="0 0 0" />
    </inertial>
  </link>
  <joint name="act1Seg9_to_act1Seg10_ax1" type="revolute">
    <parent link="act1Seg9" />
    <child link="act1Seg10" />
    <origin xyz="0 0 0.15" rpy="0 0 0" />
    <axis xyz="0 1 0" />
    <limit lower="-3.141592" upper="3.141592" effort="100" velocity="3" />
  </joint>
  <link name="act1Seg10helper_shape">
    <visual>
      <origin xyz="0 0 0.0" rpy="-1.5707963267948966 0 0" />
      <geometry>
        <cylinder length="0.4" radius="0.2" />
      </geometry>
      <material name="blue">
        <color rgba="0.3 0.0 1 1.0" />
      </material>
    </visual>
    <collision>
      <origin xyz="0 0 0.0" rpy="-1.5707963267948966 0 0" />
      <geometry>
        <cylinder length="0.4" radius="0.2" />
      </geometry>
    </collision>
    <inertial>
      <mass value="0.00015" />
      <inertia ixx="0.001" ixy="0.0" ixz="0.0" iyy="0.001" iyz="0.0" izz="0.001" />
      <origin xyz="0 0 0.0" rpy="-1.5707963267948966 0 0" />
    </inertial>
  </link>
  <joint name="act1Seg9_to_act1Seg10_ax1helper_shape" type="fixed">
    <parent link="act1Seg9" />
    <child link="act1Seg10helper_shape" />
    <origin xyz="0 0 0.15" rpy="0 0 0" />
    <axis xyz="1 0 0" />
  </joint>
  <link name="act2Seg0">
    <visual>
      <origin xyz="0 0 0.0375" rpy="0 0 0" />
      <geometry>
        <box size="0.4 0.4 0.075" />
      </geometry>
      <material name="blue">
        <color rgba="0.3 0.0 1 1.0" />
      </material>
    </visual>
    <collision>
      <origin xyz="0 0 0.0375" rpy="0 0 0" />
      <geometry>
        <box size="0.4 0.4 0.075" />
      </geometry>
    </collision>
    <inertial>
      <mass value="0.15" />
      <inertia ixx="1" ixy="0" ixz="0" iyy="1" iyz="0" izz="1" />
      <origin xyz="0 0 0.0375" rpy="0 0 0" />
    </inertial>
  </link>
  <joint name="act1Seg10_to_act2Seg0_ax1" type="fixed">
    <parent link="act1Seg10" />
    <child link="act2Seg0" />
    <origin xyz="0 0 0.075" rpy="0 0 0" />
    <axis xyz="0 1 0" />
    <limit lower="-3.141592" upper="3.141592" effort="100" velocity="3" />
  </joint>
  <link name="act2Seg1">
    <visual>
      <origin xyz="0 0 0.075" rpy="0 0 0" />
      <geometry>
        <box size="0.4 0.4 0.15" />
      </geometry>
      <material name="blue">
        <color rgba="0.3 0.0 1 1.0" />
      </material>
    </visual>
    <collision>
      <origin xyz="0 0 0.075" rpy="0 0 0" />
      <geometry>
        <box size="0.4 0.4 0.15" />
      </geometry>
    </collision>
    <inertial>
      <mass value="0.15" />
      <inertia ixx="1" ixy="0" ixz="0" iyy="1" iyz="0" izz="1" />
      <origin xyz="0 0 0.075" rpy="0 0 0" />
    </inertial>
  </link>
  <joint name="act2Seg0_to_act2Seg1_ax0" type="revolute">
    <parent link="act2Seg0" />
    <child link="act2Seg1" />
    <origin xyz="0 0 0.075" rpy="0 0 0" />
    <axis xyz="1 0 0" />
    <limit lower="-3.141592" upper="3.141592" effort="100" velocity="3" />
  </joint>
  <link name="act2Seg1helper_shape">
    <visual>
      <origin xyz="0 0 0.0" rpy="0 -1.5707963267948966 0" />
      <geometry>
        <cylinder length="0.4" radius="0.2" />
      </geometry>
      <material name="blue">
        <color rgba="0.3 0.0 1 1.0" />
      </material>
    </visual>
    <collision>
      <origin xyz="0 0 0.0" rpy="0 -1.5707963267948966 0" />
      <geometry>
        <cylinder length="0.4" radius="0.2" />
      </geometry>
    </collision>
    <inertial>
      <mass value="0.00015" />
      <inertia ixx="0.001" ixy="0.0" ixz="0.0" iyy="0.001" iyz="0.0" izz="0.001" />
      <origin xyz="0 0 0.0" rpy="0 -1.5707963267948966 0" />
    </inertial>
  </link>
  <joint name="act2Seg0_to_act2Seg1_ax0helper_shape" type="fixed">
    <parent link="act2Seg0" />
    <child link="act2Seg1helper_shape" />
    <origin xyz="0 0 0.075" rpy="0 0 0" />
    <axis xyz="1 0 0" />
  </joint>
  <link name="act2Seg2">
    <visual>
      <origin xyz="0 0 0.075" rpy="0 0 0" />
      <geometry>
        <box size="0.4 0.4 0.15" />
      </geometry>
      <material name="blue">
        <color rgba="0.3 0.0 1 1.0" />
      </material>
    </visual>
    <collision>
      <origin xyz="0 0 0.075" rpy="0 0 0" />
      <geometry>
        <box size="0.4 0.4 0.15" />
      </geometry>
    </collision>
    <inertial>
      <mass value="0.15" />
      <inertia ixx="1" ixy="0" ixz="0" iyy="1" iyz="0" izz="1" />
      <origin xyz="0 0 0.075" rpy="0 0 0" />
    </inertial>
  </link>
  <joint name="act2Seg1_to_act2Seg2_ax1" type="revolute">
    <parent link="act2Seg1" />
    <child link="act2Seg2" />
    <origin xyz="0 0 0.15" rpy="0 0 0" />
    <axis xyz="0 1 0" />
    <limit lower="-3.141592" upper="3.141592" effort="100" velocity="3" />
  </joint>
  <link name="act2Seg2helper_shape">
    <visual>
      <origin xyz="0 0 0.0" rpy="-1.5707963267948966 0 0" />
      <geometry>
        <cylinder length="0.4" radius="0.2" />
      </geometry>
      <material name="blue">
        <color rgba="0.3 0.0 1 1.0" />
      </material>
    </visual>
    <collision>
      <origin xyz="0 0 0.0" rpy="-1.5707963267948966 0 0" />
      <geometry>
        <cylinder length="0.4" radius="0.2" />
      </geometry>
    </collision>
    <inertial>
      <mass value="0.00015" />
      <inertia ixx="0.001" ixy="0.0" ixz="0.0" iyy="0.001" iyz="0.0" izz="0.001" />
      <origin xyz="0 0 0.0" rpy="-1.5707963267948966 0 0" />
    </inertial>
  </link>
  <joint name="act2Seg1_to_act2Seg2_ax1helper_shape" type="fixed">
    <parent link="act2Seg1" />
    <child link="act2Seg2helper_shape" />
    <origin xyz="0 0 0.15" rpy="0 0 0" />
    <axis xyz="1 0 0" />
  </joint>
  <link name="act2Seg3">
    <visual>
      <origin xyz="0 0 0.075" rpy="0 0 0" />
      <geometry>
        <box size="0.4 0.4 0.15" />
      </geometry>
      <material name="blue">
        <color rgba="0.3 0.0 1 1.0" />
      </material>
    </visual>
    <collision>
      <origin xyz="0 0 0.075" rpy="0 0 0" />
      <geometry>
        <box size="0.4 0.4 0.15" />
      </geometry>
    </collision>
    <inertial>
      <mass value="0.15" />
      <inertia ixx="1" ixy="0" ixz="0" iyy="1" iyz="0" izz="1" />
      <origin xyz="0 0 0.075" rpy="0 0 0" />
    </inertial>
  </link>
  <joint name="act2Seg2_to_act2Seg3_ax0" type="revolute">
    <parent link="act2Seg2" />
    <child link="act2Seg3" />
    <origin xyz="0 0 0.15" rpy="0 0 0" />
    <axis xyz="1 0 0" />
    <limit lower="-3.141592" upper="3.141592" effort="100" velocity="3" />
  </joint>
  <link name="act2Seg3helper_shape">
    <visual>
      <origin xyz="0 0 0.0" rpy="0 -1.5707963267948966 0" />
      <geometry>
        <cylinder length="0.4" radius="0.2" />
      </geometry>
      <material name="blue">
        <color rgba="0.3 0.0 1 1.0" />
      </material>
    </visual>
    <collision>
      <origin xyz="0 0 0.0" rpy="0 -1.5707963267948966 0" />
      <geometry>
        <cylinder length="0.4" radius="0.2" />
      </geometry>
    </collision>
    <inertial>
      <mass value="0.00015" />
      <inertia ixx="0.001" ixy="0.0" ixz="0.0" iyy="0.001" iyz="0.0" izz="0.001" />
      <origin xyz="0 0 0.0" rpy="0 -1.5707963267948966 0" />
    </inertial>
  </link>
  <joint name="act2Seg2_to_act2Seg3_ax0helper_shape" type="fixed">
    <parent link="act2Seg2" />
    <child link="act2Seg3helper_shape" />
    <origin xyz="0 0 0.15" rpy="0 0 0" />
    <axis xyz="1 0 0" />
  </joint>
  <link name="act2Seg4">
    <visual>
      <origin xyz="0 0 0.075" rpy="0 0 0" />
      <geometry>
        <box size="0.4 0.4 0.15" />
      </geometry>
      <material name="blue">
        <color rgba="0.3 0.0 1 1.0" />
      </material>
    </visual>
    <collision>
      <origin xyz="0 0 0.075" rpy="0 0 0" />
      <geometry>
        <box size="0.4 0.4 0.15" />
      </geometry>
    </collision>
    <inertial>
      <mass value="0.15" />
      <inertia ixx="1" ixy="0" ixz="0" iyy="1" iyz="0" izz="1" />
      <origin xyz="0 0 0.075" rpy="0 0 0" />
    </inertial>
  </link>
  <joint name="act2Seg3_to_act2Seg4_ax1" type="revolute">
    <parent link="act2Seg3" />
    <child link="act2Seg4" />
    <origin xyz="0 0 0.15" rpy="0 0 0" />
    <axis xyz="0 1 0" />
    <limit lower="-3.141592" upper="3.141592" effort="100" velocity="3" />
  </joint>
  <link name="act2Seg4helper_shape">
    <visual>
      <origin xyz="0 0 0.0" rpy="-1.5707963267948966 0 0" />
      <geometry>
        <cylinder length="0.4" radius="0.2" />
      </geometry>
      <material name="blue">
        <color rgba="0.3 0.0 1 1.0" />
      </material>
    </visual>
    <collision>
      <origin xyz="0 0 0.0" rpy="-1.5707963267948966 0 0" />
      <geometry>
        <cylinder length="0.4" radius="0.2" />
      </geometry>
    </collision>
    <inertial>
      <mass value="0.00015" />
      <inertia ixx="0.001" ixy="0.0" ixz="0.0" iyy="0.001" iyz="0.0" izz="0.001" />
      <origin xyz="0 0 0.0" rpy="-1.5707963267948966 0 0" />
    </inertial>
  </link>
  <joint name="act2Seg3_to_act2Seg4_ax1helper_shape" type="fixed">
    <parent link="act2Seg3" />
    <child link="act2Seg4helper_shape" />
    <origin xyz="0 0 0.15" rpy="0 0 0" />
    <axis xyz="1 0 0" />
  </joint>
  <link name="act2Seg5">
    <visual>
      <origin xyz="0 0 0.075" rpy="0 0 0" />
      <geometry>
        <box size="0.4 0.4 0.15" />
      </geometry>
      <material name="blue">
        <color rgba="0.3 0.0 1 1.0" />
      </material>
    </visual>
    <collision>
      <origin xyz="0 0 0.075" rpy="0 0 0" />
      <geometry>
        <box size="0.4 0.4 0.15" />
      </geometry>
    </collision>
    <inertial>
      <mass value="0.15" />
      <inertia ixx="1" ixy="0" ixz="0" iyy="1" iyz="0" izz="1" />
      <origin xyz="0 0 0.075" rpy="0 0 0" />
    </inertial>
  </link>
  <joint name="act2Seg4_to_act2Seg5_ax0" type="revolute">
    <parent link="act2Seg4" />
    <child link="act2Seg5" />
    <origin xyz="0 0 0.15" rpy="0 0 0" />
    <axis xyz="1 0 0" />
    <limit lower="-3.141592" upper="3.141592" effort="100" velocity="3" />
  </joint>
  <link name="act2Seg5helper_shape">
    <visual>
      <origin xyz="0 0 0.0" rpy="0 -1.5707963267948966 0" />
      <geometry>
        <cylinder length="0.4" radius="0.2" />
      </geometry>
      <material name="blue">
        <color rgba="0.3 0.0 1 1.0" />
      </material>
    </visual>
    <collision>
      <origin xyz="0 0 0.0" rpy="0 -1.5707963267948966 0" />
      <geometry>
        <cylinder length="0.4" radius="0.2" />
      </geometry>
    </collision>
    <inertial>
      <mass value="0.00015" />
      <inertia ixx="0.001" ixy="0.0" ixz="0.0" iyy="0.001" iyz="0.0" izz="0.001" />
      <origin xyz="0 0 0.0" rpy="0 -1.5707963267948966 0" />
    </inertial>
  </link>
  <joint name="act2Seg4_to_act2Seg5_ax0helper_shape" type="fixed">
    <parent link="act2Seg4" />
    <child link="act2Seg5helper_shape" />
    <origin xyz="0 0 0.15" rpy="0 0 0" />
    <axis xyz="1 0 0" />
  </joint>
  <link name="act2Seg6">
    <visual>
      <origin xyz="0 0 0.075" rpy="0 0 0" />
      <geometry>
        <box size="0.4 0.4 0.15" />
      </geometry>
      <material name="blue">
        <color rgba="0.3 0.0 1 1.0" />
      </material>
    </visual>
    <collision>
      <origin xyz="0 0 0.075" rpy="0 0 0" />
      <geometry>
        <box size="0.4 0.4 0.15" />
      </geometry>
    </collision>
    <inertial>
      <mass value="0.15" />
      <inertia ixx="1" ixy="0" ixz="0" iyy="1" iyz="0" izz="1" />
      <origin xyz="0 0 0.075" rpy="0 0 0" />
    </inertial>
  </link>
  <joint name="act2Seg5_to_act2Seg6_ax1" type="revolute">
    <parent link="act2Seg5" />
    <child link="act2Seg6" />
    <origin xyz="0 0 0.15" rpy="0 0 0" />
    <axis xyz="0 1 0" />
    <limit lower="-3.141592" upper="3.141592" effort="100" velocity="3" />
  </joint>
  <link name="act2Seg6helper_shape">
    <visual>
      <origin xyz="0 0 0.0" rpy="-1.5707963267948966 0 0" />
      <geometry>
        <cylinder length="0.4" radius="0.2" />
      </geometry>
      <material name="blue">
        <color rgba="0.3 0.0 1 1.0" />
      </material>
    </visual>
    <collision>
      <origin xyz="0 0 0.0" rpy="-1.5707963267948966 0 0" />
      <geometry>
        <cylinder length="0.4" radius="0.2" />
      </geometry>
    </collision>
    <inertial>
      <mass value="0.00015" />
      <inertia ixx="0.001" ixy="0.0" ixz="0.0" iyy="0.001" iyz="0.0" izz="0.001" />
      <origin xyz="0 0 0.0" rpy="-1.5707963267948966 0 0" />
    </inertial>
  </link>
  <joint name="act2Seg5_to_act2Seg6_ax1helper_shape" type="fixed">
    <parent link="act2Seg5" />
    <child link="act2Seg6helper_shape" />
    <origin xyz="0 0 0.15" rpy="0 0 0" />
    <axis xyz="1 0 0" />
  </joint>
  <link name="act2Seg7">
    <visual>
      <origin xyz="0 0 0.075" rpy="0 0 0" />
      <geometry>
        <box size="0.4 0.4 0.15" />
      </geometry>
      <material name="blue">
        <color rgba="0.3 0.0 1 1.0" />
      </material>
    </visual>
    <collision>
      <origin xyz="0 0 0.075" rpy="0 0 0" />
      <geometry>
        <box size="0.4 0.4 0.15" />
      </geometry>
    </collision>
    <inertial>
      <mass value="0.15" />
      <inertia ixx="1" ixy="0" ixz="0" iyy="1" iyz="0" izz="1" />
      <origin xyz="0 0 0.075" rpy="0 0 0" />
    </inertial>
  </link>
  <joint name="act2Seg6_to_act2Seg7_ax0" type="revolute">
    <parent link="act2Seg6" />
    <child link="act2Seg7" />
    <origin xyz="0 0 0.15" rpy="0 0 0" />
    <axis xyz="1 0 0" />
    <limit lower="-3.141592" upper="3.141592" effort="100" velocity="3" />
  </joint>
  <link name="act2Seg7helper_shape">
    <visual>
      <origin xyz="0 0 0.0" rpy="0 -1.5707963267948966 0" />
      <geometry>
        <cylinder length="0.4" radius="0.2" />
      </geometry>
      <material name="blue">
        <color rgba="0.3 0.0 1 1.0" />
      </material>
    </visual>
    <collision>
      <origin xyz="0 0 0.0" rpy="0 -1.5707963267948966 0" />
      <geometry>
        <cylinder length="0.4" radius="0.2" />
      </geometry>
    </collision>
    <inertial>
      <mass value="0.00015" />
      <inertia ixx="0.001" ixy="0.0" ixz="0.0" iyy="0.001" iyz="0.0" izz="0.001" />
      <origin xyz="0 0 0.0" rpy="0 -1.5707963267948966 0" />
    </inertial>
  </link>
  <joint name="act2Seg6_to_act2Seg7_ax0helper_shape" type="fixed">
    <parent link="act2Seg6" />
    <child link="act2Seg7helper_shape" />
    <origin xyz="0 0 0.15" rpy="0 0 0" />
    <axis xyz="1 0 0" />
  </joint>
  <link name="act2Seg8">
    <visual>
      <origin xyz="0 0 0.075" rpy="0 0 0" />
      <geometry>
        <box size="0.4 0.4 0.15" />
      </geometry>
      <material name="blue">
        <color rgba="0.3 0.0 1 1.0" />
      </material>
    </visual>
    <collision>
      <origin xyz="0 0 0.075" rpy="0 0 0" />
      <geometry>
        <box size="0.4 0.4 0.15" />
      </geometry>
    </collision>
    <inertial>
      <mass value="0.15" />
      <inertia ixx="1" ixy="0" ixz="0" iyy="1" iyz="0" izz="1" />
      <origin xyz="0 0 0.075" rpy="0 0 0" />
    </inertial>
  </link>
  <joint name="act2Seg7_to_act2Seg8_ax1" type="revolute">
    <parent link="act2Seg7" />
    <child link="act2Seg8" />
    <origin xyz="0 0 0.15" rpy="0 0 0" />
    <axis xyz="0 1 0" />
    <limit lower="-3.141592" upper="3.141592" effort="100" velocity="3" />
  </joint>
  <link name="act2Seg8helper_shape">
    <visual>
      <origin xyz="0 0 0.0" rpy="-1.5707963267948966 0 0" />
      <geometry>
        <cylinder length="0.4" radius="0.2" />
      </geometry>
      <material name="blue">
        <color rgba="0.3 0.0 1 1.0" />
      </material>
    </visual>
    <collision>
      <origin xyz="0 0 0.0" rpy="-1.5707963267948966 0 0" />
      <geometry>
        <cylinder length="0.4" radius="0.2" />
      </geometry>
    </collision>
    <inertial>
      <mass value="0.00015" />
      <inertia ixx="0.001" ixy="0.0" ixz="0.0" iyy="0.001" iyz="0.0" izz="0.001" />
      <origin xyz="0 0 0.0" rpy="-1.5707963267948966 0 0" />
    </inertial>
  </link>
  <joint name="act2Seg7_to_act2Seg8_ax1helper_shape" type="fixed">
    <parent link="act2Seg7" />
    <child link="act2Seg8helper_shape" />
    <origin xyz="0 0 0.15" rpy="0 0 0" />
    <axis xyz="1 0 0" />
  </joint>
  <link name="act2Seg9">
    <visual>
      <origin xyz="0 0 0.075" rpy="0 0 0" />
      <geometry>
        <box size="0.4 0.4 0.15" />
      </geometry>
      <material name="blue">
        <color rgba="0.3 0.0 1 1.0" />
      </material>
    </visual>
    <collision>
      <origin xyz="0 0 0.075" rpy="0 0 0" />
      <geometry>
        <box size="0.4 0.4 0.15" />
      </geometry>
    </collision>
    <inertial>
      <mass value="0.15" />
      <inertia ixx="1" ixy="0" ixz="0" iyy="1" iyz="0" izz="1" />
      <origin xyz="0 0 0.075" rpy="0 0 0" />
    </inertial>
  </link>
  <joint name="act2Seg8_to_act2Seg9_ax0" type="revolute">
    <parent link="act2Seg8" />
    <child link="act2Seg9" />
    <origin xyz="0 0 0.15" rpy="0 0 0" />
    <axis xyz="1 0 0" />
    <limit lower="-3.141592" upper="3.141592" effort="100" velocity="3" />
  </joint>
  <link name="act2Seg9helper_shape">
    <visual>
      <origin xyz="0 0 0.0" rpy="0 -1.5707963267948966 0" />
      <geometry>
        <cylinder length="0.4" radius="0.2" />
      </geometry>
      <material name="blue">
        <color rgba="0.3 0.0 1 1.0" />
      </material>
    </visual>
    <collision>
      <origin xyz="0 0 0.0" rpy="0 -1.5707963267948966 0" />
      <geometry>
        <cylinder length="0.4" radius="0.2" />
      </geometry>
    </collision>
    <inertial>
      <mass value="0.00015" />
      <inertia ixx="0.001" ixy="0.0" ixz="0.0" iyy="0.001" iyz="0.0" izz="0.001" />
      <origin xyz="0 0 0.0" rpy="0 -1.5707963267948966 0" />
    </inertial>
  </link>
  <joint name="act2Seg8_to_act2Seg9_ax0helper_shape" type="fixed">
    <parent link="act2Seg8" />
    <child link="act2Seg9helper_shape" />
    <origin xyz="0 0 0.15" rpy="0 0 0" />
    <axis xyz="1 0 0" />
  </joint>
  <link name="act2Seg10">
    <visual>
      <origin xyz="0 0 0.0375" rpy="0 0 0" />
      <geometry>
        <box size="0.4 0.4 0.075" />
      </geometry>
      <material name="blue">
        <color rgba="0.3 0.0 1 1.0" />
      </material>
    </visual>
    <collision>
      <origin xyz="0 0 0.0375" rpy="0 0 0" />
      <geometry>
        <box size="0.4 0.4 0.075" />
      </geometry>
    </collision>
    <inertial>
      <mass value="0.15" />
      <inertia ixx="1" ixy="0" ixz="0" iyy="1" iyz="0" izz="1" />
      <origin xyz="0 0 0.0375" rpy="0 0 0" />
    </inertial>
  </link>
  <joint name="act2Seg9_to_act2Seg10_ax1" type="revolute">
    <parent link="act2Seg9" />
    <child link="act2Seg10" />
    <origin xyz="0 0 0.15" rpy="0 0 0" />
    <axis xyz="0 1 0" />
    <limit lower="-3.141592" upper="3.141592" effort="100" velocity="3" />
  </joint>
  <link name="act2Seg10helper_shape">
    <visual>
      <origin xyz="0 0 0.0" rpy="-1.5707963267948966 0 0" />
      <geometry>
        <cylinder length="0.4" radius="0.2" />
      </geometry>
      <material name="blue">
        <color rgba="0.3 0.0 1 1.0" />
      </material>
    </visual>
    <collision>
      <origin xyz="0 0 0.0" rpy="-1.5707963267948966 0 0" />
      <geometry>
        <cylinder length="0.4" radius="0.2" />
      </geometry>
    </collision>
    <inertial>
      <mass value="0.00015" />
      <inertia ixx="0.001" ixy="0.0" ixz="0.0" iyy="0.001" iyz="0.0" izz="0.001" />
      <origin xyz="0 0 0.0" rpy="-1.5707963267948966 0 0" />
    </inertial>
  </link>
  <joint name="act2Seg9_to_act2Seg10_ax1helper_shape" type="fixed">
    <parent link="act2Seg9" />
    <child link="act2Seg10helper_shape" />
    <origin xyz="0 0 0.15" rpy="0 0 0" />
    <axis xyz="1 0 0" />
  </joint>
  <link name="act3Seg0">
    <visual>
      <origin xyz="0 0 0.0375" rpy="0 0 0" />
      <geometry>
        <box size="0.4 0.4 0.075" />
      </geometry>
      <material name="blue">
        <color rgba="0.3 0.0 1 1.0" />
      </material>
    </visual>
    <collision>
      <origin xyz="0 0 0.0375" rpy="0 0 0" />
      <geometry>
        <box size="0.4 0.4 0.075" />
      </geometry>
    </collision>
    <inertial>
      <mass value="0.15" />
      <inertia ixx="1" ixy="0" ixz="0" iyy="1" iyz="0" izz="1" />
      <origin xyz="0 0 0.0375" rpy="0 0 0" />
    </inertial>
  </link>
  <joint name="act2Seg10_to_act3Seg0_ax1" type="fixed">
    <parent link="act2Seg10" />
    <child link="act3Seg0" />
    <origin xyz="0 0 0.075" rpy="0 0 0" />
    <axis xyz="0 1 0" />
    <limit lower="-3.141592" upper="3.141592" effort="100" velocity="3" />
  </joint>
  <link name="act3Seg1">
    <visual>
      <origin xyz="0 0 0.075" rpy="0 0 0" />
      <geometry>
        <box size="0.4 0.4 0.15" />
      </geometry>
      <material name="blue">
        <color rgba="0.3 0.0 1 1.0" />
      </material>
    </visual>
    <collision>
      <origin xyz="0 0 0.075" rpy="0 0 0" />
      <geometry>
        <box size="0.4 0.4 0.15" />
      </geometry>
    </collision>
    <inertial>
      <mass value="0.15" />
      <inertia ixx="1" ixy="0" ixz="0" iyy="1" iyz="0" izz="1" />
      <origin xyz="0 0 0.075" rpy="0 0 0" />
    </inertial>
  </link>
  <joint name="act3Seg0_to_act3Seg1_ax0" type="revolute">
    <parent link="act3Seg0" />
    <child link="act3Seg1" />
    <origin xyz="0 0 0.075" rpy="0 0 0" />
    <axis xyz="1 0 0" />
    <limit lower="-3.141592" upper="3.141592" effort="100" velocity="3" />
  </joint>
  <link name="act3Seg1helper_shape">
    <visual>
      <origin xyz="0 0 0.0" rpy="0 -1.5707963267948966 0" />
      <geometry>
        <cylinder length="0.4" radius="0.2" />
      </geometry>
      <material name="blue">
        <color rgba="0.3 0.0 1 1.0" />
      </material>
    </visual>
    <collision>
      <origin xyz="0 0 0.0" rpy="0 -1.5707963267948966 0" />
      <geometry>
        <cylinder length="0.4" radius="0.2" />
      </geometry>
    </collision>
    <inertial>
      <mass value="0.00015" />
      <inertia ixx="0.001" ixy="0.0" ixz="0.0" iyy="0.001" iyz="0.0" izz="0.001" />
      <origin xyz="0 0 0.0" rpy="0 -1.5707963267948966 0" />
    </inertial>
  </link>
  <joint name="act3Seg0_to_act3Seg1_ax0helper_shape" type="fixed">
    <parent link="act3Seg0" />
    <child link="act3Seg1helper_shape" />
    <origin xyz="0 0 0.075" rpy="0 0 0" />
    <axis xyz="1 0 0" />
  </joint>
  <link name="act3Seg2">
    <visual>
      <origin xyz="0 0 0.075" rpy="0 0 0" />
      <geometry>
        <box size="0.4 0.4 0.15" />
      </geometry>
      <material name="blue">
        <color rgba="0.3 0.0 1 1.0" />
      </material>
    </visual>
    <collision>
      <origin xyz="0 0 0.075" rpy="0 0 0" />
      <geometry>
        <box size="0.4 0.4 0.15" />
      </geometry>
    </collision>
    <inertial>
      <mass value="0.15" />
      <inertia ixx="1" ixy="0" ixz="0" iyy="1" iyz="0" izz="1" />
      <origin xyz="0 0 0.075" rpy="0 0 0" />
    </inertial>
  </link>
  <joint name="act3Seg1_to_act3Seg2_ax1" type="revolute">
    <parent link="act3Seg1" />
    <child link="act3Seg2" />
    <origin xyz="0 0 0.15" rpy="0 0 0" />
    <axis xyz="0 1 0" />
    <limit lower="-3.141592" upper="3.141592" effort="100" velocity="3" />
  </joint>
  <link name="act3Seg2helper_shape">
    <visual>
      <origin xyz="0 0 0.0" rpy="-1.5707963267948966 0 0" />
      <geometry>
        <cylinder length="0.4" radius="0.2" />
      </geometry>
      <material name="blue">
        <color rgba="0.3 0.0 1 1.0" />
      </material>
    </visual>
    <collision>
      <origin xyz="0 0 0.0" rpy="-1.5707963267948966 0 0" />
      <geometry>
        <cylinder length="0.4" radius="0.2" />
      </geometry>
    </collision>
    <inertial>
      <mass value="0.00015" />
      <inertia ixx="0.001" ixy="0.0" ixz="0.0" iyy="0.001" iyz="0.0" izz="0.001" />
      <origin xyz="0 0 0.0" rpy="-1.5707963267948966 0 0" />
    </inertial>
  </link>
  <joint name="act3Seg1_to_act3Seg2_ax1helper_shape" type="fixed">
    <parent link="act3Seg1" />
    <child link="act3Seg2helper_shape" />
    <origin xyz="0 0 0.15" rpy="0 0 0" />
    <axis xyz="1 0 0" />
  </joint>
  <link name="act3Seg3">
    <visual>
      <origin xyz="0 0 0.075" rpy="0 0 0" />
      <geometry>
        <box size="0.4 0.4 0.15" />
      </geometry>
      <material name="blue">
        <color rgba="0.3 0.0 1 1.0" />
      </material>
    </visual>
    <collision>
      <origin xyz="0 0 0.075" rpy="0 0 0" />
      <geometry>
        <box size="0.4 0.4 0.15" />
      </geometry>
    </collision>
    <inertial>
      <mass value="0.15" />
      <inertia ixx="1" ixy="0" ixz="0" iyy="1" iyz="0" izz="1" />
      <origin xyz="0 0 0.075" rpy="0 0 0" />
    </inertial>
  </link>
  <joint name="act3Seg2_to_act3Seg3_ax0" type="revolute">
    <parent link="act3Seg2" />
    <child link="act3Seg3" />
    <origin xyz="0 0 0.15" rpy="0 0 0" />
    <axis xyz="1 0 0" />
    <limit lower="-3.141592" upper="3.141592" effort="100" velocity="3" />
  </joint>
  <link name="act3Seg3helper_shape">
    <visual>
      <origin xyz="0 0 0.0" rpy="0 -1.5707963267948966 0" />
      <geometry>
        <cylinder length="0.4" radius="0.2" />
      </geometry>
      <material name="blue">
        <color rgba="0.3 0.0 1 1.0" />
      </material>
    </visual>
    <collision>
      <origin xyz="0 0 0.0" rpy="0 -1.5707963267948966 0" />
      <geometry>
        <cylinder length="0.4" radius="0.2" />
      </geometry>
    </collision>
    <inertial>
      <mass value="0.00015" />
      <inertia ixx="0.001" ixy="0.0" ixz="0.0" iyy="0.001" iyz="0.0" izz="0.001" />
      <origin xyz="0 0 0.0" rpy="0 -1.5707963267948966 0" />
    </inertial>
  </link>
  <joint name="act3Seg2_to_act3Seg3_ax0helper_shape" type="fixed">
    <parent link="act3Seg2" />
    <child link="act3Seg3helper_shape" />
    <origin xyz="0 0 0.15" rpy="0 0 0" />
    <axis xyz="1 0 0" />
  </joint>
  <link name="act3Seg4">
    <visual>
      <origin xyz="0 0 0.075" rpy="0 0 0" />
      <geometry>
        <box size="0.4 0.4 0.15" />
      </geometry>
      <material name="blue">
        <color rgba="0.3 0.0 1 1.0" />
      </material>
    </visual>
    <collision>
      <origin xyz="0 0 0.075" rpy="0 0 0" />
      <geometry>
        <box size="0.4 0.4 0.15" />
      </geometry>
    </collision>
    <inertial>
      <mass value="0.15" />
      <inertia ixx="1" ixy="0" ixz="0" iyy="1" iyz="0" izz="1" />
      <origin xyz="0 0 0.075" rpy="0 0 0" />
    </inertial>
  </link>
  <joint name="act3Seg3_to_act3Seg4_ax1" type="revolute">
    <parent link="act3Seg3" />
    <child link="act3Seg4" />
    <origin xyz="0 0 0.15" rpy="0 0 0" />
    <axis xyz="0 1 0" />
    <limit lower="-3.141592" upper="3.141592" effort="100" velocity="3" />
  </joint>
  <link name="act3Seg4helper_shape">
    <visual>
      <origin xyz="0 0 0.0" rpy="-1.5707963267948966 0 0" />
      <geometry>
        <cylinder length="0.4" radius="0.2" />
      </geometry>
      <material name="blue">
        <color rgba="0.3 0.0 1 1.0" />
      </material>
    </visual>
    <collision>
      <origin xyz="0 0 0.0" rpy="-1.5707963267948966 0 0" />
      <geometry>
        <cylinder length="0.4" radius="0.2" />
      </geometry>
    </collision>
    <inertial>
      <mass value="0.00015" />
      <inertia ixx="0.001" ixy="0.0" ixz="0.0" iyy="0.001" iyz="0.0" izz="0.001" />
      <origin xyz="0 0 0.0" rpy="-1.5707963267948966 0 0" />
    </inertial>
  </link>
  <joint name="act3Seg3_to_act3Seg4_ax1helper_shape" type="fixed">
    <parent link="act3Seg3" />
    <child link="act3Seg4helper_shape" />
    <origin xyz="0 0 0.15" rpy="0 0 0" />
    <axis xyz="1 0 0" />
  </joint>
  <link name="act3Seg5">
    <visual>
      <origin xyz="0 0 0.075" rpy="0 0 0" />
      <geometry>
        <box size="0.4 0.4 0.15" />
      </geometry>
      <material name="blue">
        <color rgba="0.3 0.0 1 1.0" />
      </material>
    </visual>
    <collision>
      <origin xyz="0 0 0.075" rpy="0 0 0" />
      <geometry>
        <box size="0.4 0.4 0.15" />
      </geometry>
    </collision>
    <inertial>
      <mass value="0.15" />
      <inertia ixx="1" ixy="0" ixz="0" iyy="1" iyz="0" izz="1" />
      <origin xyz="0 0 0.075" rpy="0 0 0" />
    </inertial>
  </link>
  <joint name="act3Seg4_to_act3Seg5_ax0" type="revolute">
    <parent link="act3Seg4" />
    <child link="act3Seg5" />
    <origin xyz="0 0 0.15" rpy="0 0 0" />
    <axis xyz="1 0 0" />
    <limit lower="-3.141592" upper="3.141592" effort="100" velocity="3" />
  </joint>
  <link name="act3Seg5helper_shape">
    <visual>
      <origin xyz="0 0 0.0" rpy="0 -1.5707963267948966 0" />
      <geometry>
        <cylinder length="0.4" radius="0.2" />
      </geometry>
      <material name="blue">
        <color rgba="0.3 0.0 1 1.0" />
      </material>
    </visual>
    <collision>
      <origin xyz="0 0 0.0" rpy="0 -1.5707963267948966 0" />
      <geometry>
        <cylinder length="0.4" radius="0.2" />
      </geometry>
    </collision>
    <inertial>
      <mass value="0.00015" />
      <inertia ixx="0.001" ixy="0.0" ixz="0.0" iyy="0.001" iyz="0.0" izz="0.001" />
      <origin xyz="0 0 0.0" rpy="0 -1.5707963267948966 0" />
    </inertial>
  </link>
  <joint name="act3Seg4_to_act3Seg5_ax0helper_shape" type="fixed">
    <parent link="act3Seg4" />
    <child link="act3Seg5helper_shape" />
    <origin xyz="0 0 0.15" rpy="0 0 0" />
    <axis xyz="1 0 0" />
  </joint>
  <link name="act3Seg6">
    <visual>
      <origin xyz="0 0 0.075" rpy="0 0 0" />
      <geometry>
        <box size="0.4 0.4 0.15" />
      </geometry>
      <material name="blue">
        <color rgba="0.3 0.0 1 1.0" />
      </material>
    </visual>
    <collision>
      <origin xyz="0 0 0.075" rpy="0 0 0" />
      <geometry>
        <box size="0.4 0.4 0.15" />
      </geometry>
    </collision>
    <inertial>
      <mass value="0.15" />
      <inertia ixx="1" ixy="0" ixz="0" iyy="1" iyz="0" izz="1" />
      <origin xyz="0 0 0.075" rpy="0 0 0" />
    </inertial>
  </link>
  <joint name="act3Seg5_to_act3Seg6_ax1" type="revolute">
    <parent link="act3Seg5" />
    <child link="act3Seg6" />
    <origin xyz="0 0 0.15" rpy="0 0 0" />
    <axis xyz="0 1 0" />
    <limit lower="-3.141592" upper="3.141592" effort="100" velocity="3" />
  </joint>
  <link name="act3Seg6helper_shape">
    <visual>
      <origin xyz="0 0 0.0" rpy="-1.5707963267948966 0 0" />
      <geometry>
        <cylinder length="0.4" radius="0.2" />
      </geometry>
      <material name="blue">
        <color rgba="0.3 0.0 1 1.0" />
      </material>
    </visual>
    <collision>
      <origin xyz="0 0 0.0" rpy="-1.5707963267948966 0 0" />
      <geometry>
        <cylinder length="0.4" radius="0.2" />
      </geometry>
    </collision>
    <inertial>
      <mass value="0.00015" />
      <inertia ixx="0.001" ixy="0.0" ixz="0.0" iyy="0.001" iyz="0.0" izz="0.001" />
      <origin xyz="0 0 0.0" rpy="-1.5707963267948966 0 0" />
    </inertial>
  </link>
  <joint name="act3Seg5_to_act3Seg6_ax1helper_shape" type="fixed">
    <parent link="act3Seg5" />
    <child link="act3Seg6helper_shape" />
    <origin xyz="0 0 0.15" rpy="0 0 0" />
    <axis xyz="1 0 0" />
  </joint>
  <link name="act3Seg7">
    <visual>
      <origin xyz="0 0 0.075" rpy="0 0 0" />
      <geometry>
        <box size="0.4 0.4 0.15" />
      </geometry>
      <material name="blue">
        <color rgba="0.3 0.0 1 1.0" />
      </material>
    </visual>
    <collision>
      <origin xyz="0 0 0.075" rpy="0 0 0" />
      <geometry>
        <box size="0.4 0.4 0.15" />
      </geometry>
    </collision>
    <inertial>
      <mass value="0.15" />
      <inertia ixx="1" ixy="0" ixz="0" iyy="1" iyz="0" izz="1" />
      <origin xyz="0 0 0.075" rpy="0 0 0" />
    </inertial>
  </link>
  <joint name="act3Seg6_to_act3Seg7_ax0" type="revolute">
    <parent link="act3Seg6" />
    <child link="act3Seg7" />
    <origin xyz="0 0 0.15" rpy="0 0 0" />
    <axis xyz="1 0 0" />
    <limit lower="-3.141592" upper="3.141592" effort="100" velocity="3" />
  </joint>
  <link name="act3Seg7helper_shape">
    <visual>
      <origin xyz="0 0 0.0" rpy="0 -1.5707963267948966 0" />
      <geometry>
        <cylinder length="0.4" radius="0.2" />
      </geometry>
      <material name="blue">
        <color rgba="0.3 0.0 1 1.0" />
      </material>
    </visual>
    <collision>
      <origin xyz="0 0 0.0" rpy="0 -1.5707963267948966 0" />
      <geometry>
        <cylinder length="0.4" radius="0.2" />
      </geometry>
    </collision>
    <inertial>
      <mass value="0.00015" />
      <inertia ixx="0.001" ixy="0.0" ixz="0.0" iyy="0.001" iyz="0.0" izz="0.001" />
      <origin xyz="0 0 0.0" rpy="0 -1.5707963267948966 0" />
    </inertial>
  </link>
  <joint name="act3Seg6_to_act3Seg7_ax0helper_shape" type="fixed">
    <parent link="act3Seg6" />
    <child link="act3Seg7helper_shape" />
    <origin xyz="0 0 0.15" rpy="0 0 0" />
    <axis xyz="1 0 0" />
  </joint>
  <link name="act3Seg8">
    <visual>
      <origin xyz="0 0 0.075" rpy="0 0 0" />
      <geometry>
        <box size="0.4 0.4 0.15" />
      </geometry>
      <material name="blue">
        <color rgba="0.3 0.0 1 1.0" />
      </material>
    </visual>
    <collision>
      <origin xyz="0 0 0.075" rpy="0 0 0" />
      <geometry>
        <box size="0.4 0.4 0.15" />
      </geometry>
    </collision>
    <inertial>
      <mass value="0.15" />
      <inertia ixx="1" ixy="0" ixz="0" iyy="1" iyz="0" izz="1" />
      <origin xyz="0 0 0.075" rpy="0 0 0" />
    </inertial>
  </link>
  <joint name="act3Seg7_to_act3Seg8_ax1" type="revolute">
    <parent link="act3Seg7" />
    <child link="act3Seg8" />
    <origin xyz="0 0 0.15" rpy="0 0 0" />
    <axis xyz="0 1 0" />
    <limit lower="-3.141592" upper="3.141592" effort="100" velocity="3" />
  </joint>
  <link name="act3Seg8helper_shape">
    <visual>
      <origin xyz="0 0 0.0" rpy="-1.5707963267948966 0 0" />
      <geometry>
        <cylinder length="0.4" radius="0.2" />
      </geometry>
      <material name="blue">
        <color rgba="0.3 0.0 1 1.0" />
      </material>
    </visual>
    <collision>
      <origin xyz="0 0 0.0" rpy="-1.5707963267948966 0 0" />
      <geometry>
        <cylinder length="0.4" radius="0.2" />
      </geometry>
    </collision>
    <inertial>
      <mass value="0.00015" />
      <inertia ixx="0.001" ixy="0.0" ixz="0.0" iyy="0.001" iyz="0.0" izz="0.001" />
      <origin xyz="0 0 0.0" rpy="-1.5707963267948966 0 0" />
    </inertial>
  </link>
  <joint name="act3Seg7_to_act3Seg8_ax1helper_shape" type="fixed">
    <parent link="act3Seg7" />
    <child link="act3Seg8helper_shape" />
    <origin xyz="0 0 0.15" rpy="0 0 0" />
    <axis xyz="1 0 0" />
  </joint>
  <link name="act3Seg9">
    <visual>
      <origin xyz="0 0 0.075" rpy="0 0 0" />
      <geometry>
        <box size="0.4 0.4 0.15" />
      </geometry>
      <material name="blue">
        <color rgba="0.3 0.0 1 1.0" />
      </material>
    </visual>
    <collision>
      <origin xyz="0 0 0.075" rpy="0 0 0" />
      <geometry>
        <box size="0.4 0.4 0.15" />
      </geometry>
    </collision>
    <inertial>
      <mass value="0.15" />
      <inertia ixx="1" ixy="0" ixz="0" iyy="1" iyz="0" izz="1" />
      <origin xyz="0 0 0.075" rpy="0 0 0" />
    </inertial>
  </link>
  <joint name="act3Seg8_to_act3Seg9_ax0" type="revolute">
    <parent link="act3Seg8" />
    <child link="act3Seg9" />
    <origin xyz="0 0 0.15" rpy="0 0 0" />
    <axis xyz="1 0 0" />
    <limit lower="-3.141592" upper="3.141592" effort="100" velocity="3" />
  </joint>
  <link name="act3Seg9helper_shape">
    <visual>
      <origin xyz="0 0 0.0" rpy="0 -1.5707963267948966 0" />
      <geometry>
        <cylinder length="0.4" radius="0.2" />
      </geometry>
      <material name="blue">
        <color rgba="0.3 0.0 1 1.0" />
      </material>
    </visual>
    <collision>
      <origin xyz="0 0 0.0" rpy="0 -1.5707963267948966 0" />
      <geometry>
        <cylinder length="0.4" radius="0.2" />
      </geometry>
    </collision>
    <inertial>
      <mass value="0.00015" />
      <inertia ixx="0.001" ixy="0.0" ixz="0.0" iyy="0.001" iyz="0.0" izz="0.001" />
      <origin xyz="0 0 0.0" rpy="0 -1.5707963267948966 0" />
    </inertial>
  </link>
  <joint name="act3Seg8_to_act3Seg9_ax0helper_shape" type="fixed">
    <parent link="act3Seg8" />
    <child link="act3Seg9helper_shape" />
    <origin xyz="0 0 0.15" rpy="0 0 0" />
    <axis xyz="1 0 0" />
  </joint>
  <link name="act3Seg10">
    <visual>
      <origin xyz="0 0 0.0375" rpy="0 0 0" />
      <geometry>
        <box size="0.4 0.4 0.075" />
      </geometry>
      <material name="blue">
        <color rgba="0.3 0.0 1 1.0" />
      </material>
    </visual>
    <collision>
      <origin xyz="0 0 0.0375" rpy="0 0 0" />
      <geometry>
        <box size="0.4 0.4 0.075" />
      </geometry>
    </collision>
    <inertial>
      <mass value="0.15" />
      <inertia ixx="1" ixy="0" ixz="0" iyy="1" iyz="0" izz="1" />
      <origin xyz="0 0 0.0375" rpy="0 0 0" />
    </inertial>
  </link>
  <joint name="act3Seg9_to_act3Seg10_ax1" type="revolute">
    <parent link="act3Seg9" />
    <child link="act3Seg10" />
    <origin xyz="0 0 0.15" rpy="0 0 0" />
    <axis xyz="0 1 0" />
    <limit lower="-3.141592" upper="3.141592" effort="100" velocity="3" />
  </joint>
  <link name="act3Seg10helper_shape">
    <visual>
      <origin xyz="0 0 0.0" rpy="-1.5707963267948966 0 0" />
      <geometry>
        <cylinder length="0.4" radius="0.2" />
      </geometry>
      <material name="blue">
        <color rgba="0.3 0.0 1 1.0" />
      </material>
    </visual>
    <collision>
      <origin xyz="0 0 0.0" rpy="-1.5707963267948966 0 0" />
      <geometry>
        <cylinder length="0.4" radius="0.2" />
      </geometry>
    </collision>
    <inertial>
      <mass value="0.00015" />
      <inertia ixx="0.001" ixy="0.0" ixz="0.0" iyy="0.001" iyz="0.0" izz="0.001" />
      <origin xyz="0 0 0.0" rpy="-1.5707963267948966 0 0" />
    </inertial>
  </link>
  <joint name="act3Seg9_to_act3Seg10_ax1helper_shape" type="fixed">
    <parent link="act3Seg9" />
    <child link="act3Seg10helper_shape" />
    <origin xyz="0 0 0.15" rpy="0 0 0" />
    <axis xyz="1 0 0" />
  </joint>
  <link name="act4Seg0">
    <visual>
      <origin xyz="0 0 0.0375" rpy="0 0 0" />
      <geometry>
        <box size="0.4 0.4 0.075" />
      </geometry>
      <material name="blue">
        <color rgba="0.3 0.0 1 1.0" />
      </material>
    </visual>
    <collision>
      <origin xyz="0 0 0.0375" rpy="0 0 0" />
      <geometry>
        <box size="0.4 0.4 0.075" />
      </geometry>
    </collision>
    <inertial>
      <mass value="0.15" />
      <inertia ixx="1" ixy="0" ixz="0" iyy="1" iyz="0" izz="1" />
      <origin xyz="0 0 0.0375" rpy="0 0 0" />
    </inertial>
  </link>
  <joint name="act3Seg10_to_act4Seg0_ax1" type="fixed">
    <parent link="act3Seg10" />
    <child link="act4Seg0" />
    <origin xyz="0 0 0.075" rpy="0 0 0" />
    <axis xyz="0 1 0" />
    <limit lower="-3.141592" upper="3.141592" effort="100" velocity="3" />
  </joint>
  <link name="act4Seg1">
    <visual>
      <origin xyz="0 0 0.075" rpy="0 0 0" />
      <geometry>
        <box size="0.4 0.4 0.15" />
      </geometry>
      <material name="blue">
        <color rgba="0.3 0.0 1 1.0" />
      </material>
    </visual>
    <collision>
      <origin xyz="0 0 0.075" rpy="0 0 0" />
      <geometry>
        <box size="0.4 0.4 0.15" />
      </geometry>
    </collision>
    <inertial>
      <mass value="0.15" />
      <inertia ixx="1" ixy="0" ixz="0" iyy="1" iyz="0" izz="1" />
      <origin xyz="0 0 0.075" rpy="0 0 0" />
    </inertial>
  </link>
  <joint name="act4Seg0_to_act4Seg1_ax0" type="revolute">
    <parent link="act4Seg0" />
    <child link="act4Seg1" />
    <origin xyz="0 0 0.075" rpy="0 0 0" />
    <axis xyz="1 0 0" />
    <limit lower="-3.141592" upper="3.141592" effort="100" velocity="3" />
  </joint>
  <link name="act4Seg1helper_shape">
    <visual>
      <origin xyz="0 0 0.0" rpy="0 -1.5707963267948966 0" />
      <geometry>
        <cylinder length="0.4" radius="0.2" />
      </geometry>
      <material name="blue">
        <color rgba="0.3 0.0 1 1.0" />
      </material>
    </visual>
    <collision>
      <origin xyz="0 0 0.0" rpy="0 -1.5707963267948966 0" />
      <geometry>
        <cylinder length="0.4" radius="0.2" />
      </geometry>
    </collision>
    <inertial>
      <mass value="0.00015" />
      <inertia ixx="0.001" ixy="0.0" ixz="0.0" iyy="0.001" iyz="0.0" izz="0.001" />
      <origin xyz="0 0 0.0" rpy="0 -1.5707963267948966 0" />
    </inertial>
  </link>
  <joint name="act4Seg0_to_act4Seg1_ax0helper_shape" type="fixed">
    <parent link="act4Seg0" />
    <child link="act4Seg1helper_shape" />
    <origin xyz="0 0 0.075" rpy="0 0 0" />
    <axis xyz="1 0 0" />
  </joint>
  <link name="act4Seg2">
    <visual>
      <origin xyz="0 0 0.075" rpy="0 0 0" />
      <geometry>
        <box size="0.4 0.4 0.15" />
      </geometry>
      <material name="blue">
        <color rgba="0.3 0.0 1 1.0" />
      </material>
    </visual>
    <collision>
      <origin xyz="0 0 0.075" rpy="0 0 0" />
      <geometry>
        <box size="0.4 0.4 0.15" />
      </geometry>
    </collision>
    <inertial>
      <mass value="0.15" />
      <inertia ixx="1" ixy="0" ixz="0" iyy="1" iyz="0" izz="1" />
      <origin xyz="0 0 0.075" rpy="0 0 0" />
    </inertial>
  </link>
  <joint name="act4Seg1_to_act4Seg2_ax1" type="revolute">
    <parent link="act4Seg1" />
    <child link="act4Seg2" />
    <origin xyz="0 0 0.15" rpy="0 0 0" />
    <axis xyz="0 1 0" />
    <limit lower="-3.141592" upper="3.141592" effort="100" velocity="3" />
  </joint>
  <link name="act4Seg2helper_shape">
    <visual>
      <origin xyz="0 0 0.0" rpy="-1.5707963267948966 0 0" />
      <geometry>
        <cylinder length="0.4" radius="0.2" />
      </geometry>
      <material name="blue">
        <color rgba="0.3 0.0 1 1.0" />
      </material>
    </visual>
    <collision>
      <origin xyz="0 0 0.0" rpy="-1.5707963267948966 0 0" />
      <geometry>
        <cylinder length="0.4" radius="0.2" />
      </geometry>
    </collision>
    <inertial>
      <mass value="0.00015" />
      <inertia ixx="0.001" ixy="0.0" ixz="0.0" iyy="0.001" iyz="0.0" izz="0.001" />
      <origin xyz="0 0 0.0" rpy="-1.5707963267948966 0 0" />
    </inertial>
  </link>
  <joint name="act4Seg1_to_act4Seg2_ax1helper_shape" type="fixed">
    <parent link="act4Seg1" />
    <child link="act4Seg2helper_shape" />
    <origin xyz="0 0 0.15" rpy="0 0 0" />
    <axis xyz="1 0 0" />
  </joint>
  <link name="act4Seg3">
    <visual>
      <origin xyz="0 0 0.075" rpy="0 0 0" />
      <geometry>
        <box size="0.4 0.4 0.15" />
      </geometry>
      <material name="blue">
        <color rgba="0.3 0.0 1 1.0" />
      </material>
    </visual>
    <collision>
      <origin xyz="0 0 0.075" rpy="0 0 0" />
      <geometry>
        <box size="0.4 0.4 0.15" />
      </geometry>
    </collision>
    <inertial>
      <mass value="0.15" />
      <inertia ixx="1" ixy="0" ixz="0" iyy="1" iyz="0" izz="1" />
      <origin xyz="0 0 0.075" rpy="0 0 0" />
    </inertial>
  </link>
  <joint name="act4Seg2_to_act4Seg3_ax0" type="revolute">
    <parent link="act4Seg2" />
    <child link="act4Seg3" />
    <origin xyz="0 0 0.15" rpy="0 0 0" />
    <axis xyz="1 0 0" />
    <limit lower="-3.141592" upper="3.141592" effort="100" velocity="3" />
  </joint>
  <link name="act4Seg3helper_shape">
    <visual>
      <origin xyz="0 0 0.0" rpy="0 -1.5707963267948966 0" />
      <geometry>
        <cylinder length="0.4" radius="0.2" />
      </geometry>
      <material name="blue">
        <color rgba="0.3 0.0 1 1.0" />
      </material>
    </visual>
    <collision>
      <origin xyz="0 0 0.0" rpy="0 -1.5707963267948966 0" />
      <geometry>
        <cylinder length="0.4" radius="0.2" />
      </geometry>
    </collision>
    <inertial>
      <mass value="0.00015" />
      <inertia ixx="0.001" ixy="0.0" ixz="0.0" iyy="0.001" iyz="0.0" izz="0.001" />
      <origin xyz="0 0 0.0" rpy="0 -1.5707963267948966 0" />
    </inertial>
  </link>
  <joint name="act4Seg2_to_act4Seg3_ax0helper_shape" type="fixed">
    <parent link="act4Seg2" />
    <child link="act4Seg3helper_shape" />
    <origin xyz="0 0 0.15" rpy="0 0 0" />
    <axis xyz="1 0 0" />
  </joint>
  <link name="act4Seg4">
    <visual>
      <origin xyz="0 0 0.075" rpy="0 0 0" />
      <geometry>
        <box size="0.4 0.4 0.15" />
      </geometry>
      <material name="blue">
        <color rgba="0.3 0.0 1 1.0" />
      </material>
    </visual>
    <collision>
      <origin xyz="0 0 0.075" rpy="0 0 0" />
      <geometry>
        <box size="0.4 0.4 0.15" />
      </geometry>
    </collision>
    <inertial>
      <mass value="0.15" />
      <inertia ixx="1" ixy="0" ixz="0" iyy="1" iyz="0" izz="1" />
      <origin xyz="0 0 0.075" rpy="0 0 0" />
    </inertial>
  </link>
  <joint name="act4Seg3_to_act4Seg4_ax1" type="revolute">
    <parent link="act4Seg3" />
    <child link="act4Seg4" />
    <origin xyz="0 0 0.15" rpy="0 0 0" />
    <axis xyz="0 1 0" />
    <limit lower="-3.141592" upper="3.141592" effort="100" velocity="3" />
  </joint>
  <link name="act4Seg4helper_shape">
    <visual>
      <origin xyz="0 0 0.0" rpy="-1.5707963267948966 0 0" />
      <geometry>
        <cylinder length="0.4" radius="0.2" />
      </geometry>
      <material name="blue">
        <color rgba="0.3 0.0 1 1.0" />
      </material>
    </visual>
    <collision>
      <origin xyz="0 0 0.0" rpy="-1.5707963267948966 0 0" />
      <geometry>
        <cylinder length="0.4" radius="0.2" />
      </geometry>
    </collision>
    <inertial>
      <mass value="0.00015" />
      <inertia ixx="0.001" ixy="0.0" ixz="0.0" iyy="0.001" iyz="0.0" izz="0.001" />
      <origin xyz="0 0 0.0" rpy="-1.5707963267948966 0 0" />
    </inertial>
  </link>
  <joint name="act4Seg3_to_act4Seg4_ax1helper_shape" type="fixed">
    <parent link="act4Seg3" />
    <child link="act4Seg4helper_shape" />
    <origin xyz="0 0 0.15" rpy="0 0 0" />
    <axis xyz="1 0 0" />
  </joint>
  <link name="act4Seg5">
    <visual>
      <origin xyz="0 0 0.075" rpy="0 0 0" />
      <geometry>
        <box size="0.4 0.4 0.15" />
      </geometry>
      <material name="blue">
        <color rgba="0.3 0.0 1 1.0" />
      </material>
    </visual>
    <collision>
      <origin xyz="0 0 0.075" rpy="0 0 0" />
      <geometry>
        <box size="0.4 0.4 0.15" />
      </geometry>
    </collision>
    <inertial>
      <mass value="0.15" />
      <inertia ixx="1" ixy="0" ixz="0" iyy="1" iyz="0" izz="1" />
      <origin xyz="0 0 0.075" rpy="0 0 0" />
    </inertial>
  </link>
  <joint name="act4Seg4_to_act4Seg5_ax0" type="revolute">
    <parent link="act4Seg4" />
    <child link="act4Seg5" />
    <origin xyz="0 0 0.15" rpy="0 0 0" />
    <axis xyz="1 0 0" />
    <limit lower="-3.141592" upper="3.141592" effort="100" velocity="3" />
  </joint>
  <link name="act4Seg5helper_shape">
    <visual>
      <origin xyz="0 0 0.0" rpy="0 -1.5707963267948966 0" />
      <geometry>
        <cylinder length="0.4" radius="0.2" />
      </geometry>
      <material name="blue">
        <color rgba="0.3 0.0 1 1.0" />
      </material>
    </visual>
    <collision>
      <origin xyz="0 0 0.0" rpy="0 -1.5707963267948966 0" />
      <geometry>
        <cylinder length="0.4" radius="0.2" />
      </geometry>
    </collision>
    <inertial>
      <mass value="0.00015" />
      <inertia ixx="0.001" ixy="0.0" ixz="0.0" iyy="0.001" iyz="0.0" izz="0.001" />
      <origin xyz="0 0 0.0" rpy="0 -1.5707963267948966 0" />
    </inertial>
  </link>
  <joint name="act4Seg4_to_act4Seg5_ax0helper_shape" type="fixed">
    <parent link="act4Seg4" />
    <child link="act4Seg5helper_shape" />
    <origin xyz="0 0 0.15" rpy="0 0 0" />
    <axis xyz="1 0 0" />
  </joint>
  <link name="act4Seg6">
    <visual>
      <origin xyz="0 0 0.075" rpy="0 0 0" />
      <geometry>
        <box size="0.4 0.4 0.15" />
      </geometry>
      <material name="blue">
        <color rgba="0.3 0.0 1 1.0" />
      </material>
    </visual>
    <collision>
      <origin xyz="0 0 0.075" rpy="0 0 0" />
      <geometry>
        <box size="0.4 0.4 0.15" />
      </geometry>
    </collision>
    <inertial>
      <mass value="0.15" />
      <inertia ixx="1" ixy="0" ixz="0" iyy="1" iyz="0" izz="1" />
      <origin xyz="0 0 0.075" rpy="0 0 0" />
    </inertial>
  </link>
  <joint name="act4Seg5_to_act4Seg6_ax1" type="revolute">
    <parent link="act4Seg5" />
    <child link="act4Seg6" />
    <origin xyz="0 0 0.15" rpy="0 0 0" />
    <axis xyz="0 1 0" />
    <limit lower="-3.141592" upper="3.141592" effort="100" velocity="3" />
  </joint>
  <link name="act4Seg6helper_shape">
    <visual>
      <origin xyz="0 0 0.0" rpy="-1.5707963267948966 0 0" />
      <geometry>
        <cylinder length="0.4" radius="0.2" />
      </geometry>
      <material name="blue">
        <color rgba="0.3 0.0 1 1.0" />
      </material>
    </visual>
    <collision>
      <origin xyz="0 0 0.0" rpy="-1.5707963267948966 0 0" />
      <geometry>
        <cylinder length="0.4" radius="0.2" />
      </geometry>
    </collision>
    <inertial>
      <mass value="0.00015" />
      <inertia ixx="0.001" ixy="0.0" ixz="0.0" iyy="0.001" iyz="0.0" izz="0.001" />
      <origin xyz="0 0 0.0" rpy="-1.5707963267948966 0 0" />
    </inertial>
  </link>
  <joint name="act4Seg5_to_act4Seg6_ax1helper_shape" type="fixed">
    <parent link="act4Seg5" />
    <child link="act4Seg6helper_shape" />
    <origin xyz="0 0 0.15" rpy="0 0 0" />
    <axis xyz="1 0 0" />
  </joint>
  <link name="act4Seg7">
    <visual>
      <origin xyz="0 0 0.075" rpy="0 0 0" />
      <geometry>
        <box size="0.4 0.4 0.15" />
      </geometry>
      <material name="blue">
        <color rgba="0.3 0.0 1 1.0" />
      </material>
    </visual>
    <collision>
      <origin xyz="0 0 0.075" rpy="0 0 0" />
      <geometry>
        <box size="0.4 0.4 0.15" />
      </geometry>
    </collision>
    <inertial>
      <mass value="0.15" />
      <inertia ixx="1" ixy="0" ixz="0" iyy="1" iyz="0" izz="1" />
      <origin xyz="0 0 0.075" rpy="0 0 0" />
    </inertial>
  </link>
  <joint name="act4Seg6_to_act4Seg7_ax0" type="revolute">
    <parent link="act4Seg6" />
    <child link="act4Seg7" />
    <origin xyz="0 0 0.15" rpy="0 0 0" />
    <axis xyz="1 0 0" />
    <limit lower="-3.141592" upper="3.141592" effort="100" velocity="3" />
  </joint>
  <link name="act4Seg7helper_shape">
    <visual>
      <origin xyz="0 0 0.0" rpy="0 -1.5707963267948966 0" />
      <geometry>
        <cylinder length="0.4" radius="0.2" />
      </geometry>
      <material name="blue">
        <color rgba="0.3 0.0 1 1.0" />
      </material>
    </visual>
    <collision>
      <origin xyz="0 0 0.0" rpy="0 -1.5707963267948966 0" />
      <geometry>
        <cylinder length="0.4" radius="0.2" />
      </geometry>
    </collision>
    <inertial>
      <mass value="0.00015" />
      <inertia ixx="0.001" ixy="0.0" ixz="0.0" iyy="0.001" iyz="0.0" izz="0.001" />
      <origin xyz="0 0 0.0" rpy="0 -1.5707963267948966 0" />
    </inertial>
  </link>
  <joint name="act4Seg6_to_act4Seg7_ax0helper_shape" type="fixed">
    <parent link="act4Seg6" />
    <child link="act4Seg7helper_shape" />
    <origin xyz="0 0 0.15" rpy="0 0 0" />
    <axis xyz="1 0 0" />
  </joint>
  <link name="act4Seg8">
    <visual>
      <origin xyz="0 0 0.075" rpy="0 0 0" />
      <geometry>
        <box size="0.4 0.4 0.15" />
      </geometry>
      <material name="blue">
        <color rgba="0.3 0.0 1 1.0" />
      </material>
    </visual>
    <collision>
      <origin xyz="0 0 0.075" rpy="0 0 0" />
      <geometry>
        <box size="0.4 0.4 0.15" />
      </geometry>
    </collision>
    <inertial>
      <mass value="0.15" />
      <inertia ixx="1" ixy="0" ixz="0" iyy="1" iyz="0" izz="1" />
      <origin xyz="0 0 0.075" rpy="0 0 0" />
    </inertial>
  </link>
  <joint name="act4Seg7_to_act4Seg8_ax1" type="revolute">
    <parent link="act4Seg7" />
    <child link="act4Seg8" />
    <origin xyz="0 0 0.15" rpy="0 0 0" />
    <axis xyz="0 1 0" />
    <limit lower="-3.141592" upper="3.141592" effort="100" velocity="3" />
  </joint>
  <link name="act4Seg8helper_shape">
    <visual>
      <origin xyz="0 0 0.0" rpy="-1.5707963267948966 0 0" />
      <geometry>
        <cylinder length="0.4" radius="0.2" />
      </geometry>
      <material name="blue">
        <color rgba="0.3 0.0 1 1.0" />
      </material>
    </visual>
    <collision>
      <origin xyz="0 0 0.0" rpy="-1.5707963267948966 0 0" />
      <geometry>
        <cylinder length="0.4" radius="0.2" />
      </geometry>
    </collision>
    <inertial>
      <mass value="0.00015" />
      <inertia ixx="0.001" ixy="0.0" ixz="0.0" iyy="0.001" iyz="0.0" izz="0.001" />
      <origin xyz="0 0 0.0" rpy="-1.5707963267948966 0 0" />
    </inertial>
  </link>
  <joint name="act4Seg7_to_act4Seg8_ax1helper_shape" type="fixed">
    <parent link="act4Seg7" />
    <child link="act4Seg8helper_shape" />
    <origin xyz="0 0 0.15" rpy="0 0 0" />
    <axis xyz="1 0 0" />
  </joint>
  <link name="act4Seg9">
    <visual>
      <origin xyz="0 0 0.075" rpy="0 0 0" />
      <geometry>
        <box size="0.4 0.4 0.15" />
      </geometry>
      <material name="blue">
        <color rgba="0.3 0.0 1 1.0" />
      </material>
    </visual>
    <collision>
      <origin xyz="0 0 0.075" rpy="0 0 0" />
      <geometry>
        <box size="0.4 0.4 0.15" />
      </geometry>
    </collision>
    <inertial>
      <mass value="0.15" />
      <inertia ixx="1" ixy="0" ixz="0" iyy="1" iyz="0" izz="1" />
      <origin xyz="0 0 0.075" rpy="0 0 0" />
    </inertial>
  </link>
  <joint name="act4Seg8_to_act4Seg9_ax0" type="revolute">
    <parent link="act4Seg8" />
    <child link="act4Seg9" />
    <origin xyz="0 0 0.15" rpy="0 0 0" />
    <axis xyz="1 0 0" />
    <limit lower="-3.141592" upper="3.141592" effort="100" velocity="3" />
  </joint>
  <link name="act4Seg9helper_shape">
    <visual>
      <origin xyz="0 0 0.0" rpy="0 -1.5707963267948966 0" />
      <geometry>
        <cylinder length="0.4" radius="0.2" />
      </geometry>
      <material name="blue">
        <color rgba="0.3 0.0 1 1.0" />
      </material>
    </visual>
    <collision>
      <origin xyz="0 0 0.0" rpy="0 -1.5707963267948966 0" />
      <geometry>
        <cylinder length="0.4" radius="0.2" />
      </geometry>
    </collision>
    <inertial>
      <mass value="0.00015" />
      <inertia ixx="0.001" ixy="0.0" ixz="0.0" iyy="0.001" iyz="0.0" izz="0.001" />
      <origin xyz="0 0 0.0" rpy="0 -1.5707963267948966 0" />
    </inertial>
  </link>
  <joint name="act4Seg8_to_act4Seg9_ax0helper_shape" type="fixed">
    <parent link="act4Seg8" />
    <child link="act4Seg9helper_shape" />
    <origin xyz="0 0 0.15" rpy="0 0 0" />
    <axis xyz="1 0 0" />
  </joint>
  <link name="act4Seg10">
    <visual>
      <origin xyz="0 0 0.0375" rpy="0 0 0" />
      <geometry>
        <box size="0.4 0.4 0.075" />
      </geometry>
      <material name="blue">
        <color rgba="0.3 0.0 1 1.0" />
      </material>
    </visual>
    <collision>
      <origin xyz="0 0 0.0375" rpy="0 0 0" />
      <geometry>
        <box size="0.4 0.4 0.075" />
      </geometry>
    </collision>
    <inertial>
      <mass value="0.15" />
      <inertia ixx="1" ixy="0" ixz="0" iyy="1" iyz="0" izz="1" />
      <origin xyz="0 0 0.0375" rpy="0 0 0" />
    </inertial>
  </link>
  <joint name="act4Seg9_to_act4Seg10_ax1" type="revolute">
    <parent link="act4Seg9" />
    <child link="act4Seg10" />
    <origin xyz="0 0 0.15" rpy="0 0 0" />
    <axis xyz="0 1 0" />
    <limit lower="-3.141592" upper="3.141592" effort="100" velocity="3" />
  </joint>
  <link name="act4Seg10helper_shape">
    <visual>
      <origin xyz="0 0 0.0" rpy="-1.5707963267948966 0 0" />
      <geometry>
        <cylinder length="0.4" radius="0.2" />
      </geometry>
      <material name="blue">
        <color rgba="0.3 0.0 1 1.0" />
      </material>
    </visual>
    <collision>
      <origin xyz="0 0 0.0" rpy="-1.5707963267948966 0 0" />
      <geometry>
        <cylinder length="0.4" radius="0.2" />
      </geometry>
    </collision>
    <inertial>
      <mass value="0.00015" />
      <inertia ixx="0.001" ixy="0.0" ixz="0.0" iyy="0.001" iyz="0.0" izz="0.001" />
      <origin xyz="0 0 0.0" rpy="-1.5707963267948966 0 0" />
    </inertial>
  </link>
  <joint name="act4Seg9_to_act4Seg10_ax1helper_shape" type="fixed">
    <parent link="act4Seg9" />
    <child link="act4Seg10helper_shape" />
    <origin xyz="0 0 0.15" rpy="0 0 0" />
    <axis xyz="1 0 0" />
  </joint>
</robot>
